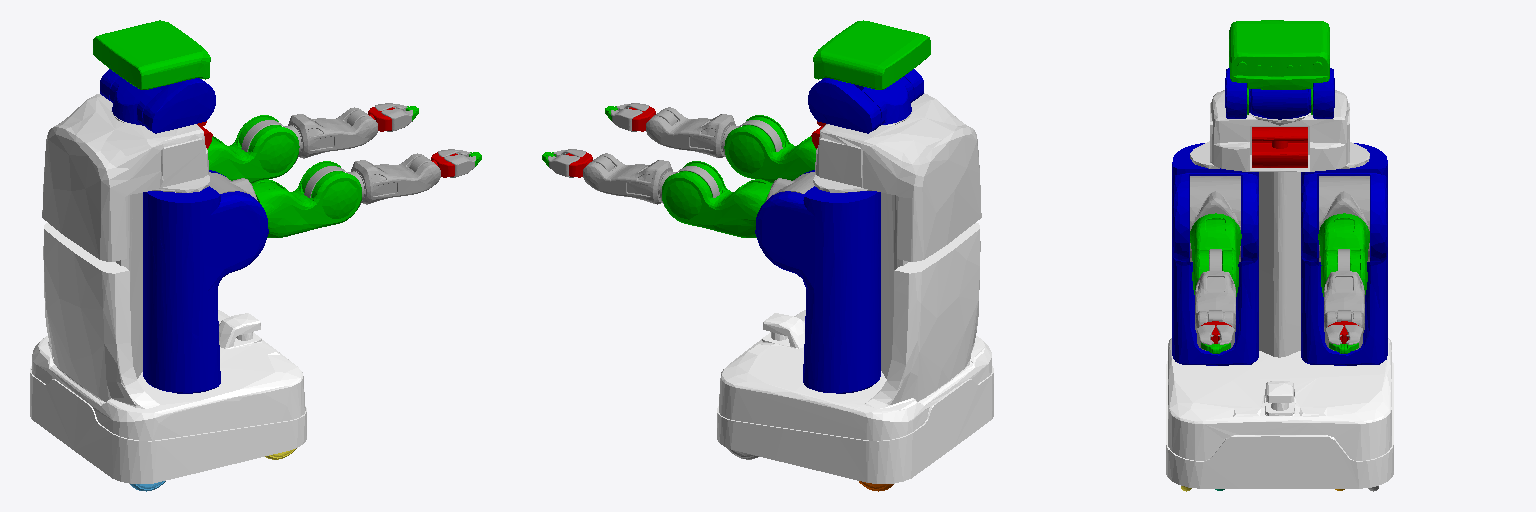
--- Facts derived from the render (not from the file) ---
The picture shows the robot from 3 angles, left to right: view 1: azimuth 30°, elevation 25°; view 2: azimuth 150°, elevation 25°; view 3: azimuth 270°, elevation 25°; orthographic projection.
Model pr2 with 83 links and 82 joints (20 revolute, 5 continuous, 3 prismatic, 54 fixed), rooted at world_link, posed every joint at zero.
Visible links, largest first — view 1: base_link, torso_lift_link, r_shoulder_pan_link, head_tilt_link, r_upper_arm_link, head_pan_link, l_upper_arm_link, l_forearm_link, r_forearm_link, r_shoulder_lift_link; view 2: base_link, torso_lift_link, l_shoulder_pan_link, head_tilt_link, l_upper_arm_link, head_pan_link, r_upper_arm_link, l_forearm_link, r_forearm_link, l_shoulder_lift_link; view 3: base_link, torso_lift_link, r_shoulder_pan_link, l_shoulder_pan_link, head_tilt_link, head_pan_link, l_upper_arm_link, r_upper_arm_link, laser_tilt_mount_link, r_shoulder_lift_link, l_shoulder_lift_link, r_forearm_link (+1 smaller).
Boxes of the visible links, box(x1,y1,x2,y2) form: base_link: box(30, 223, 306, 483); torso_lift_link: box(42, 94, 209, 378); r_shoulder_pan_link: box(143, 170, 268, 393); head_tilt_link: box(93, 20, 210, 89); r_upper_arm_link: box(251, 161, 361, 237); head_pan_link: box(100, 69, 215, 133); l_upper_arm_link: box(207, 115, 299, 182); l_forearm_link: box(288, 107, 377, 158); r_forearm_link: box(351, 153, 440, 204); r_shoulder_lift_link: box(208, 172, 257, 200); base_link: box(717, 223, 993, 483); torso_lift_link: box(813, 93, 981, 378); l_shoulder_pan_link: box(755, 170, 880, 393); head_tilt_link: box(813, 20, 930, 89); l_upper_arm_link: box(662, 161, 772, 237); head_pan_link: box(808, 69, 923, 133); r_upper_arm_link: box(724, 115, 816, 182); l_forearm_link: box(583, 153, 672, 204); r_forearm_link: box(646, 107, 735, 157); l_shoulder_lift_link: box(766, 172, 815, 200); base_link: box(1166, 338, 1393, 488); torso_lift_link: box(1190, 90, 1369, 357); r_shoulder_pan_link: box(1172, 143, 1258, 365); l_shoulder_pan_link: box(1301, 143, 1387, 365); head_tilt_link: box(1229, 20, 1329, 114); head_pan_link: box(1225, 68, 1334, 119); l_upper_arm_link: box(1318, 213, 1369, 296); r_upper_arm_link: box(1190, 213, 1241, 296); laser_tilt_mount_link: box(1252, 127, 1307, 167); r_shoulder_lift_link: box(1190, 176, 1240, 261); l_shoulder_lift_link: box(1319, 176, 1369, 261); r_forearm_link: box(1195, 271, 1235, 332).
Size in the robot's own frame: 1.31 by 0.6668 by 1.33 metres.
Meshes: 19 distinct files referenced, 45 mesh visuals loaded (19 OBJ).

URDF robot description (pr2):
<?xml version="1.0"?>
<!-- =================================================================================== -->
<!-- |    This document was autogenerated by xacro from /u/wim/cturtle_wg_all/stacks/pr2_common/pr2_description/robots/pr2.urdf.xacro | -->
<!-- |    EDITING THIS FILE BY HAND IS NOT RECOMMENDED                                 | -->
<!-- =================================================================================== -->
<!-- =================================================================================== -->
<!-- |    Note that this file has been edited by hand for Drake compatibility:         | -->
<!-- |    - .stl mesh extensions were replaced with .obj extensions.                   | -->
<!-- |    - The wheel joints intended for base movement have been changed from         | -->
<!-- |      continuous to fixed types. Joints for planar base movement have been added | -->
<!-- |      instead (x, y, theta).                                                     | -->
<!-- |    - For each gripper, the transmission that makes the fingers mimic            | -->
<!-- |      each other from the actions of a prismatic joint has been removed.         | -->
<!-- |      The finger joints are now fully actuated and are not controlled by a       | -->
<!-- |      single prismatic joint.                                                    | -->
<!-- |    Note also that the collision meshes are the same as the visualization meshes.| -->
<!-- |    For our current use case for the pr2 (gripping objects), it was decided that | -->
<!-- |    unnecessary collisions can be removed with the Drake C++ API instead of      | -->
<!-- |    keeping multiple URDFs or an XACRO with simplified collision geometry or     | -->
<!-- |    removed collision geometry.                                                  | -->
<!-- =================================================================================== -->
<robot xmlns="http://drake.mit.edu" xmlns:xsi="http://www.w3.org/2001/XMLSchema-instance" xmlns:sensor="http://playerstage.sourceforge.net/gazebo/xmlschema/#sensor" xmlns:joint="http://playerstage.sourceforge.net/gazebo/xmlschema/#slider" xmlns:body="http://playerstage.sourceforge.net/gazebo/xmlschema/#body" xmlns:geom="http://playerstage.sourceforge.net/gazebo/xmlschema/#geom" xmlns:controller="http://playerstage.sourceforge.net/gazebo/xmlschema/#controller" xmlns:xacro="http://ros.org/wiki/xacro" xmlns:interface="http://playerstage.sourceforge.net/gazebo/xmlschema/#interface" xsi:schemaLocation="http://drake.mit.edu ../../doc/drakeURDF.xsd" name="pr2">
  <!-- The following included files set up definitions of parts of the robot body -->
  <!-- misc common stuff? -->
  <!-- PR2 Arm -->
  <!-- PR2 gripper -->
  <!-- PR2 head -->
  <!-- PR2 tilting laser mount -->
  <!-- PR2 torso -->
  <!-- PR2 base -->
  <!-- Head sensors -->
  <!-- Camera sensors -->
  <!-- generic simulator_gazebo plugins for starting mechanism control, ros time, ros battery -->
  <gazebo>
    <controller:gazebo_ros_controller_manager name="gazebo_ros_controller_manager" plugin="libgazebo_ros_controller_manager.so">
      <alwaysOn>true</alwaysOn>
      <updateRate>1000.0</updateRate>
      <interface:audio name="gazebo_ros_controller_manager_dummy_iface"/>
    </controller:gazebo_ros_controller_manager>
    <controller:gazebo_ros_power_monitor name="gazebo_ros_power_monitor_controller" plugin="libgazebo_ros_power_monitor.so">
      <alwaysOn>true</alwaysOn>
      <updateRate>1.0</updateRate>
      <timeout>5</timeout>
      <interface:audio name="power_monitor_dummy_interface"/>
      <powerStateTopic>power_state</powerStateTopic>
      <powerStateRate>10.0</powerStateRate>
      <fullChargeCapacity>87.78</fullChargeCapacity>
      <dischargeRate>-474</dischargeRate>
      <chargeRate>525</chargeRate>
      <dischargeVoltage>15.52</dischargeVoltage>
      <chargeVoltage>16.41</chargeVoltage>
    </controller:gazebo_ros_power_monitor>
  </gazebo>
  <!-- materials for visualization -->
  <material name="Blue">
    <color rgba="0.0 0.0 0.8 1.0"/>
  </material>
  <material name="Green">
    <color rgba="0.0 0.8 0.0 1.0"/>
  </material>
  <material name="Grey">
    <color rgba="0.7 0.7 0.7 1.0"/>
  </material>
  <material name="Grey2">
    <color rgba="0.9 0.9 0.9 1.0"/>
  </material>
  <material name="Red">
    <color rgba="0.8 0.0 0.0 1.0"/>
  </material>
  <material name="White">
    <color rgba="1.0 1.0 1.0 1.0"/>
  </material>
  <material name="Caster">
    <texture filename="pr2_ogre/Media/materials/textures/pr2_caster_texture.png"/>
  </material>
  <material name="Wheel_l">
    <texture filename="pr2_ogre/Media/materials/textures/pr2_wheel_left.png"/>
  </material>
  <material name="Wheel_r">
    <texture filename="pr2_ogre/Media/materials/textures/pr2_wheel_right.png"/>
  </material>
  <material name="RollLinks">
    <texture filename="pr2_ogre/Media/materials/textures/pr2_wheel_left.png"/>
  </material>
  <!-- Now we can start using the macros included above to define the actual PR2 -->
  <!-- The first use of a macro.  This one was defined in base.urdf.xacro above.
       A macro like this will expand to a set of link and joint definitions, and to additional
       Gazebo-related extensions (sensor plugins, etc).  The macro takes an argument, name,
       that equals "base", and uses it to generate names for its component links and joints
       (e.g., base_link).  The included origin block is also an argument to the macro.  By convention,
       the origin block defines where the component is w.r.t its parent (in this case the parent
       is the world frame). For more, see http://www.ros.org/wiki/xacro -->
  <link name="world_link"/>
  <link name="base_link_0"/>
  <link name="base_link_1"/>
  <joint name="x" type="prismatic">
    <limit lower="-5" upper="5"/>
    <parent link="world_link"/>
    <child link="base_link_0"/>
    <axis xyz="1 0 0"/>
  </joint>
  <joint name="y" type="prismatic">
    <limit lower="-5" upper="5"/>
    <parent link="base_link_0"/>
    <child link="base_link_1"/>
    <axis xyz="0 1 0"/>
  </joint>
  <joint name="theta" type="continuous">
    <parent link="base_link_1"/>
    <child link="base_footprint"/>
    <axis xyz="0 0 1"/>
  </joint>
  <transmission name="x_transmission" type="SimpleTransmission">
    <actuator name="x_motor"/>
    <joint name="x"/>
    <mechanicalReduction>-70000.0</mechanicalReduction>
  </transmission>
  <transmission name="y_transmission" type="SimpleTransmission">
    <actuator name="y_motor"/>
    <joint name="y"/>
    <mechanicalReduction>-70000.0</mechanicalReduction>
  </transmission>
  <transmission name="theta_transmission" type="SimpleTransmission">
    <actuator name="theta_motor"/>
    <joint name="theta"/>
    <mechanicalReduction>-70000.0</mechanicalReduction>
  </transmission>
  <link name="base_link">
    <inertial>
      <mass value="116.0"/>
      <origin xyz="-0.061 0.0 0.293"/>
      <inertia ixx="5.652232699207" ixy="-0.009719934438" ixz="1.293988226423" iyy="5.669473158652" iyz="-0.007379583694" izz="3.683196351726"/>
    </inertial>
    <visual>
      <origin rpy="0 0 0" xyz="0 0 0"/>
      <geometry>
        <mesh filename="../meshes/base_v0/base.obj"/>
      </geometry>
      <material name="White"/>
    </visual>
    <collision group="non_gripper">
      <origin rpy="0 0 0" xyz="0 0 0"/>
      <geometry>
        <mesh filename="../meshes/base_v0/base_L.obj"/>
      </geometry>
    </collision>
  </link>
  <link name="base_footprint">
    <inertial>
      <mass value="1.0"/>
      <origin xyz="0 0 0"/>
      <inertia ixx="0.01" ixy="0.0" ixz="0.0" iyy="0.01" iyz="0.0" izz="0.01"/>
    </inertial>
    <visual>
      <origin rpy="0 0 0" xyz="0 0 0"/>
      <geometry>
        <box size="0.01 0.01 0.01"/>
      </geometry>
      <material name="White"/>
    </visual>
    <collision group="non_gripper">
      <!-- represent base collision with a simple rectangular model, positioned by base_size_z s.t. top
             surface of the collision box matches the top surface of the PR2 base -->
      <origin rpy="0 0 0" xyz="0 0 0.071"/>
      <geometry>
        <box size="0.001 0.001 0.001"/>
      </geometry>
    </collision>
  </link>
  <joint name="base_footprint_joint" type="fixed">
    <origin rpy="0 0 0" xyz="0 0 0.051"/>
    <child link="base_link"/>
    <parent link="base_footprint"/>
  </joint>
  <joint name="base_laser_joint" type="fixed">
    <axis xyz="0 1 0"/>
    <origin rpy="0 0 0" xyz="0.275 0.0 0.252"/>
    <parent link="base_link"/>
    <child link="base_laser_link"/>
  </joint>
  <link name="base_laser_link" type="laser">
    <inertial>
      <mass value="0.001"/>
      <origin rpy="0 0 0" xyz="0 0 0"/>
      <inertia ixx="0.0001" ixy="0" ixz="0" iyy="0.000001" iyz="0" izz="0.0001"/>
    </inertial>
    <visual>
      <origin rpy="0 0 0" xyz="0 0 0"/>
      <geometry>
        <box size="0.001 0.001 0.001"/>
      </geometry>
      <material name="Red"/>
    </visual>
    <collision group="non_gripper">
      <origin rpy="0 0 0" xyz="0 0 0"/>
      <geometry>
        <box size=".001 .001 .001"/>
      </geometry>
    </collision>
  </link>
  <gazebo reference="base_laser_link">
    <sensor:ray name="base_laser">
      <rayCount>640</rayCount>
      <rangeCount>640</rangeCount>
      <laserCount>1</laserCount>
      <origin>0.0 0.0 0.0</origin>
      <displayRays>false</displayRays>
      <minAngle>-129.998394137</minAngle>
      <maxAngle>129.998394137</maxAngle>
      <minRange>0.05</minRange>
      <maxRange>10.0</maxRange>
      <resRange>0.01</resRange>
      <updateRate>20</updateRate>
      <controller:gazebo_ros_laser name="gazebo_ros_base_laser_controller" plugin="libgazebo_ros_laser.so">
        <gaussianNoise>0.005</gaussianNoise>
        <alwaysOn>true</alwaysOn>
        <updateRate>20</updateRate>
        <topicName>base_scan</topicName>
        <frameName>base_laser_link</frameName>
        <interface:laser name="gazebo_ros_base_laser_iface"/>
      </controller:gazebo_ros_laser>
    </sensor:ray>
  </gazebo>
  <joint name="fl_caster_rotation_joint" type="fixed">
    <axis xyz="0 0 1"/>
    <limit effort="100" velocity="100"/>
    <!-- alpha tested velocity and effort limits -->
    <safety_controller k_velocity="10"/>
    <calibration reference_position="-0.785398163397" rising="-0.785398163397"/>
    <!-- hold both reference_position and upper/lower for tick-tock, remove reference_positiion after verifying upper/lower works with calibration controllers.  if search velocity in pr2_calibration_controllers.yaml is +, the reference_position is rising, if - then it is falling -->
    <dynamics damping="0.0" friction="0.0"/>
    <origin rpy="0 0 0" xyz="0.2246 0.2246 0.0282"/>
    <parent link="base_link"/>
    <child link="fl_caster_rotation_link"/>
  </joint>
  <link name="fl_caster_rotation_link">
    <inertial>
      <mass value="3.473082"/>
      <origin xyz="0 0 0.07"/>
      <inertia ixx="0.012411765597" ixy="-0.000711733678" ixz="0.00050272983" iyy="0.015218160428" iyz="-0.000004273467" izz="0.011763977943"/>
    </inertial>
    <visual>
      <origin rpy="0 0 0" xyz="0 0 0"/>
      <geometry>
        <mesh filename="../meshes/base_v0/caster.obj"/>
      </geometry>
      <material name="Caster"/>
    </visual>
    <collision group="non_gripper">
      <origin rpy="0 0 0" xyz="0 0 0"/>
      <geometry>
        <mesh filename="../meshes/base_v0/caster_L.obj"/>
      </geometry>
    </collision>
  </link>
  <transmission name="fl_caster_rotation_trans" type="SimpleTransmission">
    <actuator name="fl_caster_rotation_motor"/>
    <joint name="fl_caster_rotation_joint"/>
    <mechanicalReduction>-79.2380952381</mechanicalReduction>
  </transmission>
  <joint name="fl_caster_l_wheel_joint" type="fixed">
    <axis xyz="0 1 0"/>
    <limit effort="100" velocity="100"/>
    <!-- alpha tested effort and velocity limits -->
    <safety_controller k_velocity="10"/>
    <dynamics damping="0.0" friction="0.0"/>
    <origin rpy="0 0 0" xyz="0 0.049 0"/>
    <parent link="fl_caster_rotation_link"/>
    <child link="fl_caster_l_wheel_link"/>
  </joint>
  <link name="fl_caster_l_wheel_link">
    <inertial>
      <mass value="0.44036"/>
      <origin xyz="0 0 0"/>
      <inertia ixx="0.012411765597" ixy="-0.000711733678" ixz="0.00050272983" iyy="0.015218160428" iyz="-0.000004273467" izz="0.011763977943"/>
    </inertial>
    <visual>
      <origin rpy="0 0 0" xyz="0 0 0"/>
      <geometry>
        <mesh filename="../meshes/base_v0/wheel.obj"/>
      </geometry>
      <material name="Wheel_l"/>
    </visual>
    <collision group="non_gripper">
      <origin rpy="1.57079632679 0 0" xyz="0 0 0"/>
      <!-- rotation because cyl. geom primitive has symmetry axis in +x direction -->
      <geometry>
        <cylinder length="0.034" radius="0.074792"/>
      </geometry>
    </collision>
  </link>
  <gazebo reference="fl_caster_l_wheel_link">
    <mu1 value="100.0"/>
    <mu2 value="100.0"/>
    <kp value="1000000.0"/>
    <kd value="1.0"/>
    <material value="PR2/wheel_l"/>
  </gazebo>
  <transmission name="fl_caster_l_wheel_trans" type="SimpleTransmission">
    <actuator name="fl_caster_l_wheel_motor"/>
    <joint name="fl_caster_l_wheel_joint"/>
    <mechanicalReduction>79.2380952381</mechanicalReduction>
  </transmission>
  <joint name="fl_caster_r_wheel_joint" type="fixed">
    <axis xyz="0 1 0"/>
    <limit effort="100" velocity="100"/>
    <!-- alpha tested effort and velocity limits -->
    <safety_controller k_velocity="10"/>
    <dynamics damping="0.0" friction="0.0"/>
    <origin rpy="0 0 0" xyz="0 -0.049 0"/>
    <parent link="fl_caster_rotation_link"/>
    <child link="fl_caster_r_wheel_link"/>
  </joint>
  <link name="fl_caster_r_wheel_link">
    <inertial>
      <mass value="0.44036"/>
      <origin xyz="0 0 0"/>
      <inertia ixx="0.012411765597" ixy="-0.000711733678" ixz="0.00050272983" iyy="0.015218160428" iyz="-0.000004273467" izz="0.011763977943"/>
    </inertial>
    <visual>
      <origin rpy="0 0 0" xyz="0 0 0"/>
      <geometry>
        <mesh filename="../meshes/base_v0/wheel.obj"/>
      </geometry>
      <material name="Wheel_r"/>
    </visual>
    <collision group="non_gripper">
      <origin rpy="1.57079632679 0 0" xyz="0 0 0"/>
      <!-- rotation because cyl. geom primitive has symmetry axis in +x direction -->
      <geometry>
        <cylinder length="0.034" radius="0.074792"/>
      </geometry>
    </collision>
  </link>
  <gazebo reference="fl_caster_r_wheel_link">
    <mu1 value="100.0"/>
    <mu2 value="100.0"/>
    <kp value="1000000.0"/>
    <kd value="1.0"/>
    <material value="PR2/wheel_r"/>
  </gazebo>
  <transmission name="fl_caster_r_wheel_trans" type="SimpleTransmission">
    <actuator name="fl_caster_r_wheel_motor"/>
    <joint name="fl_caster_r_wheel_joint"/>
    <mechanicalReduction>-79.2380952381</mechanicalReduction>
  </transmission>
  <gazebo reference="fl_caster_rotation_link">
    <material value="PR2/caster_texture"/>
  </gazebo>
  <joint name="fr_caster_rotation_joint" type="fixed">
    <axis xyz="0 0 1"/>
    <limit effort="100" velocity="100"/>
    <!-- alpha tested velocity and effort limits -->
    <safety_controller k_velocity="10"/>
    <calibration reference_position="-0.785398163397" rising="-0.785398163397"/>
    <!-- hold both reference_position and upper/lower for tick-tock, remove reference_positiion after verifying upper/lower works with calibration controllers.  if search velocity in pr2_calibration_controllers.yaml is +, the reference_position is rising, if - then it is falling -->
    <dynamics damping="0.0" friction="0.0"/>
    <origin rpy="0 0 0" xyz="0.2246 -0.2246 0.0282"/>
    <parent link="base_link"/>
    <child link="fr_caster_rotation_link"/>
  </joint>
  <link name="fr_caster_rotation_link">
    <inertial>
      <mass value="3.473082"/>
      <origin xyz="0 0 0.07"/>
      <inertia ixx="0.012411765597" ixy="-0.000711733678" ixz="0.00050272983" iyy="0.015218160428" iyz="-0.000004273467" izz="0.011763977943"/>
    </inertial>
    <visual>
      <origin rpy="0 0 0" xyz="0 0 0"/>
      <geometry>
        <mesh filename="../meshes/base_v0/caster.obj"/>
      </geometry>
      <material name="Caster"/>
    </visual>
    <collision group="non_gripper">
      <origin rpy="0 0 0" xyz="0 0 0"/>
      <geometry>
        <mesh filename="../meshes/base_v0/caster_L.obj"/>
      </geometry>
    </collision>
  </link>
  <transmission name="fr_caster_rotation_trans" type="SimpleTransmission">
    <actuator name="fr_caster_rotation_motor"/>
    <joint name="fr_caster_rotation_joint"/>
    <mechanicalReduction>-79.2380952381</mechanicalReduction>
  </transmission>
  <joint name="fr_caster_l_wheel_joint" type="fixed">
    <axis xyz="0 1 0"/>
    <limit effort="100" velocity="100"/>
    <!-- alpha tested effort and velocity limits -->
    <safety_controller k_velocity="10"/>
    <dynamics damping="0.0" friction="0.0"/>
    <origin rpy="0 0 0" xyz="0 0.049 0"/>
    <parent link="fr_caster_rotation_link"/>
    <child link="fr_caster_l_wheel_link"/>
  </joint>
  <link name="fr_caster_l_wheel_link">
    <inertial>
      <mass value="0.44036"/>
      <origin xyz="0 0 0"/>
      <inertia ixx="0.012411765597" ixy="-0.000711733678" ixz="0.00050272983" iyy="0.015218160428" iyz="-0.000004273467" izz="0.011763977943"/>
    </inertial>
    <visual>
      <origin rpy="0 0 0" xyz="0 0 0"/>
      <geometry>
        <mesh filename="../meshes/base_v0/wheel.obj"/>
      </geometry>
      <material name="Wheel_l"/>
    </visual>
    <collision group="non_gripper">
      <origin rpy="1.57079632679 0 0" xyz="0 0 0"/>
      <!-- rotation because cyl. geom primitive has symmetry axis in +x direction -->
      <geometry>
        <cylinder length="0.034" radius="0.074792"/>
      </geometry>
    </collision>
  </link>
  <gazebo reference="fr_caster_l_wheel_link">
    <mu1 value="100.0"/>
    <mu2 value="100.0"/>
    <kp value="1000000.0"/>
    <kd value="1.0"/>
    <material value="PR2/wheel_l"/>
  </gazebo>
  <transmission name="fr_caster_l_wheel_trans" type="SimpleTransmission">
    <actuator name="fr_caster_l_wheel_motor"/>
    <joint name="fr_caster_l_wheel_joint"/>
    <mechanicalReduction>79.2380952381</mechanicalReduction>
  </transmission>
  <joint name="fr_caster_r_wheel_joint" type="fixed">
    <axis xyz="0 1 0"/>
    <limit effort="100" velocity="100"/>
    <!-- alpha tested effort and velocity limits -->
    <safety_controller k_velocity="10"/>
    <dynamics damping="0.0" friction="0.0"/>
    <origin rpy="0 0 0" xyz="0 -0.049 0"/>
    <parent link="fr_caster_rotation_link"/>
    <child link="fr_caster_r_wheel_link"/>
  </joint>
  <link name="fr_caster_r_wheel_link">
    <inertial>
      <mass value="0.44036"/>
      <origin xyz="0 0 0"/>
      <inertia ixx="0.012411765597" ixy="-0.000711733678" ixz="0.00050272983" iyy="0.015218160428" iyz="-0.000004273467" izz="0.011763977943"/>
    </inertial>
    <visual>
      <origin rpy="0 0 0" xyz="0 0 0"/>
      <geometry>
        <mesh filename="../meshes/base_v0/wheel.obj"/>
      </geometry>
      <material name="Wheel_r"/>
    </visual>
    <collision group="non_gripper">
      <origin rpy="1.57079632679 0 0" xyz="0 0 0"/>
      <!-- rotation because cyl. geom primitive has symmetry axis in +x direction -->
      <geometry>
        <cylinder length="0.034" radius="0.074792"/>
      </geometry>
    </collision>
  </link>
  <gazebo reference="fr_caster_r_wheel_link">
    <mu1 value="100.0"/>
    <mu2 value="100.0"/>
    <kp value="1000000.0"/>
    <kd value="1.0"/>
    <material value="PR2/wheel_r"/>
  </gazebo>
  <transmission name="fr_caster_r_wheel_trans" type="SimpleTransmission">
    <actuator name="fr_caster_r_wheel_motor"/>
    <joint name="fr_caster_r_wheel_joint"/>
    <mechanicalReduction>-79.2380952381</mechanicalReduction>
  </transmission>
  <gazebo reference="fr_caster_rotation_link">
    <material value="PR2/caster_texture"/>
  </gazebo>
  <joint name="bl_caster_rotation_joint" type="fixed">
    <axis xyz="0 0 1"/>
    <limit effort="100" velocity="100"/>
    <!-- alpha tested velocity and effort limits -->
    <safety_controller k_velocity="10"/>
    <calibration reference_position="2.35619449019" rising="2.35619449019"/>
    <!-- hold both reference_position and upper/lower for tick-tock, remove reference_positiion after verifying upper/lower works with calibration controllers.  if search velocity in pr2_calibration_controllers.yaml is +, the reference_position is rising, if - then it is falling -->
    <dynamics damping="0.0" friction="0.0"/>
    <origin rpy="0 0 0" xyz="-0.2246 0.2246 0.0282"/>
    <parent link="base_link"/>
    <child link="bl_caster_rotation_link"/>
  </joint>
  <link name="bl_caster_rotation_link">
    <inertial>
      <mass value="3.473082"/>
      <origin xyz="0 0 0.07"/>
      <inertia ixx="0.012411765597" ixy="-0.000711733678" ixz="0.00050272983" iyy="0.015218160428" iyz="-0.000004273467" izz="0.011763977943"/>
    </inertial>
    <visual>
      <origin rpy="0 0 0" xyz="0 0 0"/>
      <geometry>
        <mesh filename="../meshes/base_v0/caster.obj"/>
      </geometry>
      <material name="Caster"/>
    </visual>
    <collision group="non_gripper">
      <origin rpy="0 0 0" xyz="0 0 0"/>
      <geometry>
        <mesh filename="../meshes/base_v0/caster_L.obj"/>
      </geometry>
    </collision>
  </link>
  <transmission name="bl_caster_rotation_trans" type="SimpleTransmission">
    <actuator name="bl_caster_rotation_motor"/>
    <joint name="bl_caster_rotation_joint"/>
    <mechanicalReduction>-79.2380952381</mechanicalReduction>
  </transmission>
  <joint name="bl_caster_l_wheel_joint" type="fixed">
    <axis xyz="0 1 0"/>
    <limit effort="100" velocity="100"/>
    <!-- alpha tested effort and velocity limits -->
    <safety_controller k_velocity="10"/>
    <dynamics damping="0.0" friction="0.0"/>
    <origin rpy="0 0 0" xyz="0 0.049 0"/>
    <parent link="bl_caster_rotation_link"/>
    <child link="bl_caster_l_wheel_link"/>
  </joint>
  <link name="bl_caster_l_wheel_link">
    <inertial>
      <mass value="0.44036"/>
      <origin xyz="0 0 0"/>
      <inertia ixx="0.012411765597" ixy="-0.000711733678" ixz="0.00050272983" iyy="0.015218160428" iyz="-0.000004273467" izz="0.011763977943"/>
    </inertial>
    <visual>
      <origin rpy="0 0 0" xyz="0 0 0"/>
      <geometry>
        <mesh filename="../meshes/base_v0/wheel.obj"/>
      </geometry>
      <material name="Wheel_l"/>
    </visual>
    <collision group="non_gripper">
      <origin rpy="1.57079632679 0 0" xyz="0 0 0"/>
      <!-- rotation because cyl. geom primitive has symmetry axis in +x direction -->
      <geometry>
        <cylinder length="0.034" radius="0.074792"/>
      </geometry>
    </collision>
  </link>
  <gazebo reference="bl_caster_l_wheel_link">
    <mu1 value="100.0"/>
    <mu2 value="100.0"/>
    <kp value="1000000.0"/>
    <kd value="1.0"/>
    <material value="PR2/wheel_l"/>
  </gazebo>
  <transmission name="bl_caster_l_wheel_trans" type="SimpleTransmission">
    <actuator name="bl_caster_l_wheel_motor"/>
    <joint name="bl_caster_l_wheel_joint"/>
    <mechanicalReduction>79.2380952381</mechanicalReduction>
  </transmission>
  <joint name="bl_caster_r_wheel_joint" type="fixed">
    <axis xyz="0 1 0"/>
    <limit effort="100" velocity="100"/>
    <!-- alpha tested effort and velocity limits -->
    <safety_controller k_velocity="10"/>
    <dynamics damping="0.0" friction="0.0"/>
    <origin rpy="0 0 0" xyz="0 -0.049 0"/>
    <parent link="bl_caster_rotation_link"/>
    <child link="bl_caster_r_wheel_link"/>
  </joint>
  <link name="bl_caster_r_wheel_link">
    <inertial>
      <mass value="0.44036"/>
      <origin xyz="0 0 0"/>
      <inertia ixx="0.012411765597" ixy="-0.000711733678" ixz="0.00050272983" iyy="0.015218160428" iyz="-0.000004273467" izz="0.011763977943"/>
    </inertial>
    <visual>
      <origin rpy="0 0 0" xyz="0 0 0"/>
      <geometry>
        <mesh filename="../meshes/base_v0/wheel.obj"/>
      </geometry>
      <material name="Wheel_r"/>
    </visual>
    <collision group="non_gripper">
      <origin rpy="1.57079632679 0 0" xyz="0 0 0"/>
      <!-- rotation because cyl. geom primitive has symmetry axis in +x direction -->
      <geometry>
        <cylinder length="0.034" radius="0.074792"/>
      </geometry>
    </collision>
  </link>
  <gazebo reference="bl_caster_r_wheel_link">
    <mu1 value="100.0"/>
    <mu2 value="100.0"/>
    <kp value="1000000.0"/>
    <kd value="1.0"/>
    <material value="PR2/wheel_r"/>
  </gazebo>
  <transmission name="bl_caster_r_wheel_trans" type="SimpleTransmission">
    <actuator name="bl_caster_r_wheel_motor"/>
    <joint name="bl_caster_r_wheel_joint"/>
    <mechanicalReduction>-79.2380952381</mechanicalReduction>
  </transmission>
  <gazebo reference="bl_caster_rotation_link">
    <material value="PR2/caster_texture"/>
  </gazebo>
  <joint name="br_caster_rotation_joint" type="fixed">
    <axis xyz="0 0 1"/>
    <limit effort="100" velocity="100"/>
    <!-- alpha tested velocity and effort limits -->
    <safety_controller k_velocity="10"/>
    <calibration reference_position="2.35619449019" rising="2.35619449019"/>
    <!-- hold both reference_position and upper/lower for tick-tock, remove reference_positiion after verifying upper/lower works with calibration controllers.  if search velocity in pr2_calibration_controllers.yaml is +, the reference_position is rising, if - then it is falling -->
    <dynamics damping="0.0" friction="0.0"/>
    <origin rpy="0 0 0" xyz="-0.2246 -0.2246 0.0282"/>
    <parent link="base_link"/>
    <child link="br_caster_rotation_link"/>
  </joint>
  <link name="br_caster_rotation_link">
    <inertial>
      <mass value="3.473082"/>
      <origin xyz="0 0 0.07"/>
      <inertia ixx="0.012411765597" ixy="-0.000711733678" ixz="0.00050272983" iyy="0.015218160428" iyz="-0.000004273467" izz="0.011763977943"/>
    </inertial>
    <visual>
      <origin rpy="0 0 0" xyz="0 0 0"/>
      <geometry>
        <mesh filename="../meshes/base_v0/caster.obj"/>
      </geometry>
      <material name="Caster"/>
    </visual>
    <collision group="non_gripper">
      <origin rpy="0 0 0" xyz="0 0 0"/>
      <geometry>
        <mesh filename="../meshes/base_v0/caster_L.obj"/>
      </geometry>
    </collision>
  </link>
  <transmission name="br_caster_rotation_trans" type="SimpleTransmission">
    <actuator name="br_caster_rotation_motor"/>
    <joint name="br_caster_rotation_joint"/>
    <mechanicalReduction>-79.2380952381</mechanicalReduction>
  </transmission>
  <joint name="br_caster_l_wheel_joint" type="fixed">
    <axis xyz="0 1 0"/>
    <limit effort="100" velocity="100"/>
    <!-- alpha tested effort and velocity limits -->
    <safety_controller k_velocity="10"/>
    <dynamics damping="0.0" friction="0.0"/>
    <origin rpy="0 0 0" xyz="0 0.049 0"/>
    <parent link="br_caster_rotation_link"/>
    <child link="br_caster_l_wheel_link"/>
  </joint>
  <link name="br_caster_l_wheel_link">
    <inertial>
      <mass value="0.44036"/>
      <origin xyz="0 0 0"/>
      <inertia ixx="0.012411765597" ixy="-0.000711733678" ixz="0.00050272983" iyy="0.015218160428" iyz="-0.000004273467" izz="0.011763977943"/>
    </inertial>
    <visual>
      <origin rpy="0 0 0" xyz="0 0 0"/>
      <geometry>
        <mesh filename="../meshes/base_v0/wheel.obj"/>
      </geometry>
      <material name="Wheel_l"/>
    </visual>
    <collision group="non_gripper">
      <origin rpy="1.57079632679 0 0" xyz="0 0 0"/>
      <!-- rotation because cyl. geom primitive has symmetry axis in +x direction -->
      <geometry>
        <cylinder length="0.034" radius="0.074792"/>
      </geometry>
    </collision>
  </link>
  <gazebo reference="br_caster_l_wheel_link">
    <mu1 value="100.0"/>
    <mu2 value="100.0"/>
    <kp value="1000000.0"/>
    <kd value="1.0"/>
    <material value="PR2/wheel_l"/>
  </gazebo>
  <transmission name="br_caster_l_wheel_trans" type="SimpleTransmission">
    <actuator name="br_caster_l_wheel_motor"/>
    <joint name="br_caster_l_wheel_joint"/>
    <mechanicalReduction>79.2380952381</mechanicalReduction>
  </transmission>
  <joint name="br_caster_r_wheel_joint" type="fixed">
    <axis xyz="0 1 0"/>
    <limit effort="100" velocity="100"/>
    <!-- alpha tested effort and velocity limits -->
    <safety_controller k_velocity="10"/>
    <dynamics damping="0.0" friction="0.0"/>
    <origin rpy="0 0 0" xyz="0 -0.049 0"/>
    <parent link="br_caster_rotation_link"/>
    <child link="br_caster_r_wheel_link"/>
  </joint>
  <link name="br_caster_r_wheel_link">
    <inertial>
      <mass value="0.44036"/>
      <origin xyz="0 0 0"/>
      <inertia ixx="0.012411765597" ixy="-0.000711733678" ixz="0.00050272983" iyy="0.015218160428" iyz="-0.000004273467" izz="0.011763977943"/>
    </inertial>
    <visual>
      <origin rpy="0 0 0" xyz="0 0 0"/>
      <geometry>
        <mesh filename="../meshes/base_v0/wheel.obj"/>
      </geometry>
      <material name="Wheel_r"/>
    </visual>
    <collision group="non_gripper">
      <origin rpy="1.57079632679 0 0" xyz="0 0 0"/>
      <!-- rotation because cyl. geom primitive has symmetry axis in +x direction -->
      <geometry>
        <cylinder length="0.034" radius="0.074792"/>
      </geometry>
    </collision>
  </link>
  <gazebo reference="br_caster_r_wheel_link">
    <mu1 value="100.0"/>
    <mu2 value="100.0"/>
    <kp value="1000000.0"/>
    <kd value="1.0"/>
    <material value="PR2/wheel_r"/>
  </gazebo>
  <transmission name="br_caster_r_wheel_trans" type="SimpleTransmission">
    <actuator name="br_caster_r_wheel_motor"/>
    <joint name="br_caster_r_wheel_joint"/>
    <mechanicalReduction>-79.2380952381</mechanicalReduction>
  </transmission>
  <gazebo reference="br_caster_rotation_link">
    <material value="PR2/caster_texture"/>
  </gazebo>
  <gazebo reference="base_link">
    <selfCollide>true</selfCollide>
    <sensor:contact name="base_contact_sensor">
      <geom>base_link_geom</geom>
      <updateRate>100.0</updateRate>
      <controller:gazebo_ros_bumper name="base_gazebo_ros_bumper_controller" plugin="libgazebo_ros_bumper.so">
        <alwaysOn>true</alwaysOn>
        <updateRate>100.0</updateRate>
        <bumperTopicName>base_bumper</bumperTopicName>
        <interface:bumper name="base_bumper_iface"/>
      </controller:gazebo_ros_bumper>
    </sensor:contact>
    <material value="PR2/caster_texture"/>
  </gazebo>
  <gazebo>
    <controller:gazebo_ros_p3d name="p3d_base_controller" plugin="libgazebo_ros_p3d.so">
      <alwaysOn>true</alwaysOn>
      <updateRate>100.0</updateRate>
      <bodyName>base_link</bodyName>
      <topicName>base_pose_ground_truth</topicName>
      <gaussianNoise>0.01</gaussianNoise>
      <frameName>map</frameName>
      <xyzOffsets>25.7 25.7 0</xyzOffsets>
      <!-- initialize odometry for fake localization-->
      <rpyOffsets>0 0 0</rpyOffsets>
      <interface:position name="p3d_base_position"/>
    </controller:gazebo_ros_p3d>
    <canonicalBody>base_footprint</canonicalBody>
  </gazebo>
  <joint name="torso_lift_joint" type="prismatic">
    <axis xyz="0 0 1"/>
    <limit effort="10000" lower="0.0" upper="0.31" velocity="0.013"/>
    <!-- alpha tested velocity and effort limits -->
    <safety_controller k_position="100" k_velocity="2000000" soft_lower_limit="0.0115" soft_upper_limit="0.305"/>
    <!-- hold both reference_position and upper/lower for tick-tock, remove reference_positiion after verifying upper/lower works with calibration controllers.  if search velocity in pr2_calibration_controllers.yaml is +, the reference_position is rising, if - then it is falling -->
    <calibration falling="0.00536" reference_position="0.00536"/>
    <dynamics damping="20000.0"/>
    <!-- strictly tuned for sim only right now -->
    <origin rpy="0 0 0" xyz="-0.05 0 0.739675"/>
    <parent link="base_link"/>
    <child link="torso_lift_link"/>
  </joint>
  <link name="torso_lift_link">
    <inertial>
      <mass value="36.248046"/>
      <origin xyz="-0.1 0 -0.0885"/>
      <inertia ixx="2.771653750257" ixy="0.004284522609" ixz="-0.160418504506" iyy="2.510019507959" iyz="0.029664468704" izz="0.526432355569"/>
    </inertial>
    <visual>
      <origin rpy="0 0 0" xyz="0 0 0"/>
      <geometry>
        <mesh filename="../meshes/torso_v0/torso_lift.obj"/>
      </geometry>
      <material name="Grey2"/>
    </visual>
    <collision group="non_gripper" name="torso_lift_collision">
      <origin rpy="0 0 0" xyz="0 0 0"/>
      <geometry>
        <mesh filename="../meshes/torso_v0/torso_lift_L.obj"/>
      </geometry>
    </collision>
  </link>
  <gazebo reference="torso_lift_link">
    <sensor:contact name="torso_lift_contact_sensor">
      <geom>torso_lift_link_geom</geom>
      <updateRate>100.0</updateRate>
      <controller:gazebo_ros_bumper name="torso_lift_gazebo_ros_bumper_controller" plugin="libgazebo_ros_bumper.so">
        <alwaysOn>true</alwaysOn>
        <updateRate>100.0</updateRate>
        <bumperTopicName>torso_lift_bumper</bumperTopicName>
        <interface:bumper name="torso_lift_gazebo_ros_bumper_iface"/>
      </controller:gazebo_ros_bumper>
    </sensor:contact>
    <material value="PR2/Grey2"/>
  </gazebo>
  <transmission name="torso_lift_trans" type="SimpleTransmission">
    <actuator name="torso_lift_motor"/>
    <joint name="torso_lift_joint"/>
    <mechanicalReduction> -52143.33 </mechanicalReduction>
  </transmission>
  <joint name="imu_joint" type="fixed">
    <axis xyz="0 1 0"/>
    <origin rpy="0 3.14159265359 0" xyz="-0.02977 -0.1497 0.164"/>
    <parent link="torso_lift_link"/>
    <child link="imu_link"/>
  </joint>
  <link name="imu_link">
    <inertial>
      <mass value="0.001"/>
      <origin rpy="0 0 0" xyz="0 0 0"/>
      <inertia ixx="0.0001" ixy="0" ixz="0" iyy="0.000001" iyz="0" izz="0.0001"/>
    </inertial>
    <visual>
      <origin rpy="0 0 0" xyz="0 0 0"/>
      <geometry>
        <box size="0.001 0.001 0.001"/>
      </geometry>
      <material name="Red"/>
    </visual>
    <collision group="non_gripper">
      <origin rpy="0 0 0" xyz="0 0 0"/>
      <geometry>
        <box size=".001 .001 .001"/>
      </geometry>
    </collision>
  </link>
  <gazebo>
    <controller:gazebo_ros_imu name="imu_controller" plugin="libgazebo_ros_imu.so">
      <alwaysOn>true</alwaysOn>
      <updateRate>100.0</updateRate>
      <bodyName>imu_link</bodyName>
      <topicName>torso_lift_imu/data</topicName>
      <gaussianNoise>2.89e-08</gaussianNoise>
      <xyzOffsets>0 0 0</xyzOffsets>
      <rpyOffsets>0 0 0</rpyOffsets>
      <interface:position name="imu_position"/>
    </controller:gazebo_ros_imu>
  </gazebo>
  <!-- The xacro preprocesser will replace the parameters below, such as ${cal_head_x}, with
       numerical values that were specified in common.xacro which was included above -->
  <joint name="head_pan_joint" type="revolute">
    <axis xyz="0 0 1"/>
    <limit effort="2.645" lower="-3.007" upper="3.007" velocity="6"/>
    <!-- alpha tested velocity and effort limits -->
    <safety_controller k_position="100" k_velocity="1.5" soft_lower_limit="-2.857" soft_upper_limit="2.857"/>
    <!-- hold both reference_position and upper/lower for tick-tock, remove reference_positiion after verifying upper/lower works with calibration controllers.  if search velocity in pr2_calibration_controllers.yaml is +, the reference_position is rising, if - then it is falling -->
    <calibration reference_position="0.0" rising="0.0"/>
    <dynamics damping="1.0"/>
    <origin rpy="0.0 0.0 0.0" xyz="-0.01707 0.0 0.38145"/>
    <parent link="torso_lift_link"/>
    <child link="head_pan_link"/>
  </joint>
  <link name="head_pan_link">
    <inertial>
      <mass value="1.611118"/>
      <origin rpy="0 0 0" xyz="-0.005717  0.010312 -0.029649"/>
      <inertia ixx="0.00482611007" ixy="-0.000144683999" ixz="0.000110076136" iyy="0.005218991412" iyz="-0.000314239509" izz="0.008618784925"/>
    </inertial>
    <visual>
      <origin rpy="0 0 0 " xyz="0 0 0.0"/>
      <geometry>
        <mesh filename="../meshes/head_v0/head_pan.obj"/>
      </geometry>
      <material name="Blue"/>
    </visual>
    <collision group="non_gripper">
      <origin rpy="0 0 0 " xyz="0 0 0.0"/>
      <geometry>
        <mesh filename="../meshes/head_v0/head_pan_L.obj"/>
      </geometry>
    </collision>
  </link>
  <gazebo reference="head_pan_link">
    <material value="Gazebo/Black"/>
  </gazebo>
  <transmission name="head_pan_trans" type="SimpleTransmission">
    <actuator name="head_pan_motor"/>
    <joint name="head_pan_joint"/>
    <mechanicalReduction>6.0</mechanicalReduction>
  </transmission>
  <joint name="head_tilt_joint" type="revolute">
    <axis xyz="0 1 0"/>
    <limit effort="15" lower="-0.471238" upper="1.39626" velocity="5"/>
    <!-- alpha tested velocity and effort limits -->
    <safety_controller k_position="100" k_velocity="1.5" soft_lower_limit="-0.3712" soft_upper_limit="1.29626"/>
    <!-- hold both reference_position and upper/lower for tick-tock, remove reference_positiion after verifying upper/lower works with calibration controllers.  if search velocity in pr2_calibration_controllers.yaml is +, the reference_position is rising, if - then it is falling -->
    <calibration falling="0.0" reference_position="0.0"/>
    <dynamics damping="1.0"/>
    <origin rpy="0 0 0" xyz="0.068 0 0"/>
    <parent link="head_pan_link"/>
    <child link="head_tilt_link"/>
  </joint>
  <link name="head_tilt_link">
    <inertial>
      <mass value="1.749727"/>
      <origin rpy="0 0 0" xyz="0.041935 0.003569 0.028143"/>
      <inertia ixx="0.010602303435" ixy="-0.000408814235" ixz="0.00198303894" iyy="0.011874383747" iyz="0.000197908779" izz="0.005516790626"/>
    </inertial>
    <visual>
      <origin rpy="0.0 0.0 0.0" xyz="0 0 0"/>
      <geometry>
        <mesh filename="../meshes/head_v0/head_tilt.obj"/>
      </geometry>
      <material name="Green"/>
    </visual>
    <collision group="non_gripper">
      <origin rpy="0.0 0.0 0.0" xyz="0 0 0"/>
      <geometry>
        <mesh filename="../meshes/head_v0/head_tilt_L.obj"/>
      </geometry>
    </collision>
  </link>
  <gazebo reference="head_tilt_link">
    <material value="Gazebo/White"/>
  </gazebo>
  <transmission name="head_tilt_trans" type="SimpleTransmission">
    <actuator name="head_tilt_motor"/>
    <joint name="head_tilt_joint"/>
    <mechanicalReduction>6.0</mechanicalReduction>
  </transmission>
  <joint name="head_plate_frame_joint" type="fixed">
    <origin rpy="0 0 0" xyz="0.0232 0 0.0645"/>
    <parent link="head_tilt_link"/>
    <child link="head_plate_frame"/>
  </joint>
  <link name="head_plate_frame">
    <inertial>
      <mass value="0.01"/>
      <origin rpy="0 0 0" xyz="0 0 0"/>
      <inertia ixx="0.001" ixy="0.0" ixz="0.0" iyy="0.001" iyz="0.0" izz="0.001"/>
    </inertial>
    <visual>
      <origin rpy="0 0 0" xyz="0 0 0"/>
      <geometry>
        <box size="0.01 0.01 0.01"/>
      </geometry>
      <material name="Blue"/>
    </visual>
    <collision group="non_gripper">
      <origin rpy="0 0 0" xyz="0 0 0"/>
      <geometry>
        <box size="0.01 0.01 0.01"/>
      </geometry>
    </collision>
  </link>
  <gazebo reference="head_plate_frame">
    <material value="Gazebo/Grey"/>
  </gazebo>
  <!-- Camera package: double stereo, prosilica -->
  <joint name="sensor_mount_frame_joint" type="fixed">
    <origin rpy="0 0 0" xyz="0.0 0.0 0.0"/>
    <parent link="head_plate_frame"/>
    <child link="sensor_mount_link"/>
  </joint>
  <link name="sensor_mount_link">
    <inertial>
      <!-- Needs verification with CAD -->
      <mass value="0.05"/>
      <origin rpy="0 0 0" xyz="0 0 0"/>
      <inertia ixx="0.001" ixy="0.0" ixz="0.0" iyy="0.001" iyz="0.0" izz="0.01"/>
    </inertial>
    <!-- Should probably get real visuals here at some point -->
    <visual>
      <origin rpy="0 0 0" xyz="0 0 0"/>
      <geometry>
        <box size="0.01 0.01 0.01"/>
      </geometry>
      <material name="Blue"/>
    </visual>
    <collision group="non_gripper" name="sensor_mount_sensor_collision">
      <origin rpy="0 0 0" xyz="0 0 0"/>
      <geometry>
        <box size="0.01 0.01 0.01"/>
      </geometry>
    </collision>
  </link>
  <joint name="high_def_frame_joint" type="fixed">
    <origin rpy="0 0 0" xyz="0 -0.109 0.035"/>
    <parent link="sensor_mount_link"/>
    <child link="high_def_frame"/>
  </joint>
  <link name="high_def_frame">
    <inertial>
      <mass value="0.01"/>
      <origin rpy="0 0 0" xyz="0 0 0"/>
      <inertia ixx="0.001" ixy="0.0" ixz="0.0" iyy="0.001" iyz="0.0" izz="0.001"/>
    </inertial>
    <visual>
      <!-- bogus values for visual aesthetics -->
      <origin rpy="0 0 0" xyz="-0.02 0 0"/>
      <geometry>
        <box size="0.04 0.04 0.04"/>
      </geometry>
      <material name="Blue"/>
    </visual>
    <collision group="non_gripper">
      <origin rpy="0 0 0" xyz="0 0 0"/>
      <geometry>
        <box size="0.01 0.01 0.01"/>
      </geometry>
    </collision>
  </link>
  <joint name="high_def_optical_frame_joint" type="fixed">
    <origin rpy="-1.57079632679 0.0 -1.57079632679" xyz="0.0            0.0         0.0"/>
    <parent link="high_def_frame"/>
    <child link="high_def_optical_frame"/>
  </joint>
  <link name="high_def_optical_frame">
    <inertial>
      <mass value="0.01"/>
      <origin rpy="0 0 0" xyz="0 0 0"/>
      <inertia ixx="0.001" ixy="0.0" ixz="0.0" iyy="0.001" iyz="0.0" izz="0.001"/>
    </inertial>
    <visual>
      <!-- bogus values for visual aesthetics -->
      <origin rpy="0 0 1.57079632679" xyz="0 0 0"/>
      <geometry>
        <cylinder length="0.05" radius="0.02"/>
      </geometry>
      <material name="Blue"/>
    </visual>
    <collision group="non_gripper">
      <origin rpy="0 0 0" xyz="0 0 0"/>
      <geometry>
        <box size="0.01 0.01 0.01"/>
      </geometry>
    </collision>
  </link>
  <gazebo reference="high_def_frame">
    <sensor:camera name="high_def_sensor">
      <imageFormat>R8G8B8</imageFormat>
      <imageSize>2448 2050</imageSize>
      <hfov>45</hfov>
      <nearClip>0.1</nearClip>
      <farClip>100</farClip>
      <updateRate>20.0</updateRate>
      <controller:gazebo_ros_prosilica name="high_def_controller" plugin="libgazebo_ros_prosilica.so">
        <alwaysOn>true</alwaysOn>
        <updateRate>20.0</updateRate>
        <imageTopicName>/prosilica/image_raw</imageTopicName>
        <cameraInfoTopicName>/prosilica/camera_info</cameraInfoTopicName>
        <pollServiceName>/prosilica/request_image</pollServiceName>
        <frameName>high_def_frame</frameName>
        <CxPrime>1224.5</CxPrime>
        <Cx>1224.5</Cx>
        <Cy>1025.5</Cy>
        <focal_length>2955</focal_length>
        <!-- image_width / (2*tan(hfov_radian /2)) -->
        <distortion_k1>0.00000001</distortion_k1>
        <distortion_k2>0.00000001</distortion_k2>
        <distortion_k3>0.00000001</distortion_k3>
        <distortion_t1>0.00000001</distortion_t1>
        <distortion_t2>0.00000001</distortion_t2>
        <interface:camera name="high_def_iface"/>
      </controller:gazebo_ros_prosilica>
    </sensor:camera>
    <material value="Gazebo/Black"/>
  </gazebo>
  <joint name="double_stereo_frame_joint" type="fixed">
    <origin rpy="0 0 0" xyz="0.0 0.0 0.003"/>
    <parent link="sensor_mount_link"/>
    <child link="double_stereo_link"/>
  </joint>
  <link name="double_stereo_link">
    <inertial>
      <!-- Needs verification with CAD -->
      <mass value="0.1"/>
      <origin rpy="0 0 0" xyz="0 0 0"/>
      <inertia ixx="0.001" ixy="0.0" ixz="0.0" iyy="0.001" iyz="0.0" izz="0.01"/>
    </inertial>
    <!-- Should probably get real visuals here at some point -->
    <visual>
      <origin rpy="0 0 0" xyz="-0.01 0 0.025"/>
      <geometry>
        <box size="0.02 0.12 0.05"/>
      </geometry>
      <material name="Blue"/>
    </visual>
    <collision group="non_gripper">
      <origin rpy="0 0 0" xyz="-0.01 0 0.025"/>
      <geometry>
        <box size="0.02 0.12 0.05"/>
      </geometry>
    </collision>
  </link>
  <joint name="wide_stereo_frame_joint" type="fixed">
    <origin rpy="0.0   0.0   0.0" xyz="0.0 0.03 0.0305"/>
    <parent link="double_stereo_link"/>
    <child link="wide_stereo_link"/>
  </joint>
  <link name="wide_stereo_link">
    <inertial>
      <mass value="0.1"/>
      <origin rpy="0 0 0" xyz="0 0 0"/>
      <inertia ixx="0.01" ixy="0" ixz="0" iyy="0.01" iyz="0" izz="0.01"/>
      <!-- this inertia is made up for now. -->
    </inertial>
    <visual>
      <origin rpy="0 0 0" xyz="0 0 0"/>
      <geometry>
        <box size="0.001 0.001 0.001"/>
      </geometry>
      <material name="Blue"/>
    </visual>
    <collision group="non_gripper">
      <origin rpy="0 0 0" xyz="0 0 0"/>
      <geometry>
        <box size="0.001 0.001 0.001"/>
      </geometry>
    </collision>
  </link>
  <joint name="wide_stereo_optical_frame_joint" type="fixed">
    <origin rpy="-1.57079632679 0.0 -1.57079632679" xyz="0 0 0"/>
    <!-- rotate frame from x-forward to z-forward camera coords -->
    <parent link="wide_stereo_link"/>
    <child link="wide_stereo_optical_frame"/>
  </joint>
  <link name="wide_stereo_optical_frame" type="camera"/>
  <joint name="wide_stereo_gazebo_l_stereo_camera_frame_joint" type="fixed">
    <origin rpy="0 0 0" xyz="0 0 0"/>
    <parent link="wide_stereo_link"/>
    <child link="wide_stereo_gazebo_l_stereo_camera_frame"/>
  </joint>
  <link name="wide_stereo_gazebo_l_stereo_camera_frame">
    <inertial>
      <mass value="0.01"/>
      <origin xyz="0 0 0"/>
      <inertia ixx="0.001" ixy="0.0" ixz="0.0" iyy="0.001" iyz="0.0" izz="0.001"/>
    </inertial>
    <visual>
      <origin rpy="0 0 0" xyz="0 0 0"/>
      <geometry>
        <box size="0.01 0.01 0.01"/>
      </geometry>
    </visual>
    <collision group="non_gripper">
      <origin rpy="0 0 0" xyz="0 0 0"/>
      <geometry>
        <box size="0.01 0.01 0.01"/>
      </geometry>
    </collision>
  </link>
  <joint name="wide_stereo_gazebo_l_stereo_camera_optical_frame_joint" type="fixed">
    <origin rpy="-1.57079632679 0.0 -1.57079632679" xyz="0 0 0"/>
    <parent link="wide_stereo_gazebo_l_stereo_camera_frame"/>
    <child link="wide_stereo_gazebo_l_stereo_camera_optical_frame"/>
  </joint>
  <link name="wide_stereo_gazebo_l_stereo_camera_optical_frame"/>
  <gazebo reference="wide_stereo_gazebo_l_stereo_camera_frame">
    <sensor:camera name="wide_stereo_gazebo_l_stereo_camera_sensor">
      <imageSize>640 480</imageSize>
      <imageFormat>BAYER_BGGR8</imageFormat>
      <hfov>90</hfov>
      <nearClip>0.1</nearClip>
      <farClip>100</farClip>
      <updateRate>25.0</updateRate>
      <controller:gazebo_ros_camera name="wide_stereo_gazebo_l_stereo_camera_controller" plugin="libgazebo_ros_camera.so">
        <alwaysOn>true</alwaysOn>
        <updateRate>25.0</updateRate>
        <imageTopicName>wide_stereo/left/image_raw</imageTopicName>
        <cameraInfoTopicName>wide_stereo/left/camera_info</cameraInfoTopicName>
        <frameName>wide_stereo_optical_frame</frameName>
        <hackBaseline>0</hackBaseline>
        <CxPrime>320.5</CxPrime>
        <Cx>320.5</Cx>
        <Cy>240.5</Cy>
        <!-- image_width / (2*tan(hfov_radian /2)) -->
        <!-- 320 for wide and 772.55 for narrow stereo camera -->
        <focal_length>320</focal_length>
        <distortion_k1>0.00000001</distortion_k1>
        <distortion_k2>0.00000001</distortion_k2>
        <distortion_k3>0.00000001</distortion_k3>
        <distortion_t1>0.00000001</distortion_t1>
        <distortion_t2>0.00000001</distortion_t2>
        <interface:camera name="wide_stereo_gazebo_l_stereo_camera_iface"/>
      </controller:gazebo_ros_camera>
    </sensor:camera>
    <turnGravityOff>true</turnGravityOff>
    <material>PR2/Blue</material>
  </gazebo>
  <joint name="wide_stereo_gazebo_r_stereo_camera_frame_joint" type="fixed">
    <origin rpy="0.0 0.0 0.0" xyz="0.0 -0.09 0.0"/>
    <parent link="wide_stereo_gazebo_l_stereo_camera_frame"/>
    <child link="wide_stereo_gazebo_r_stereo_camera_frame"/>
  </joint>
  <link name="wide_stereo_gazebo_r_stereo_camera_frame">
    <inertial>
      <mass value="0.01"/>
      <origin xyz="0 0 0"/>
      <inertia ixx="0.001" ixy="0.0" ixz="0.0" iyy="0.001" iyz="0.0" izz="0.001"/>
    </inertial>
    <visual>
      <origin rpy="0 0 0" xyz="0 0 0"/>
      <geometry>
        <box size="0.01 0.01 0.01"/>
      </geometry>
    </visual>
    <collision group="non_gripper">
      <origin rpy="0 0 0" xyz="0 0 0"/>
      <geometry>
        <box size="0.01 0.01 0.01"/>
      </geometry>
    </collision>
  </link>
  <joint name="wide_stereo_gazebo_r_stereo_camera_optical_frame_joint" type="fixed">
    <origin rpy="-1.57079632679 0.0 -1.57079632679" xyz="0 0 0"/>
    <parent link="wide_stereo_gazebo_r_stereo_camera_frame"/>
    <child link="wide_stereo_gazebo_r_stereo_camera_optical_frame"/>
  </joint>
  <link name="wide_stereo_gazebo_r_stereo_camera_optical_frame"/>
  <gazebo reference="wide_stereo_gazebo_r_stereo_camera_frame">
    <sensor:camera name="wide_stereo_gazebo_r_stereo_camera_sensor">
      <imageSize>640 480</imageSize>
      <imageFormat>BAYER_BGGR8</imageFormat>
      <hfov>90</hfov>
      <nearClip>0.1</nearClip>
      <farClip>100</farClip>
      <updateRate>25.0</updateRate>
      <controller:gazebo_ros_camera name="wide_stereo_gazebo_r_stereo_camera_controller" plugin="libgazebo_ros_camera.so">
        <alwaysOn>true</alwaysOn>
        <updateRate>25.0</updateRate>
        <imageTopicName>wide_stereo/right/image_raw</imageTopicName>
        <cameraInfoTopicName>wide_stereo/right/camera_info</cameraInfoTopicName>
        <frameName>wide_stereo_optical_frame</frameName>
        <hackBaseline>0.09</hackBaseline>
        <CxPrime>320.5</CxPrime>
        <Cx>320.5</Cx>
        <Cy>240.5</Cy>
        <!-- image_width / (2*tan(hfov_radian /2)) -->
        <!-- 320 for wide and 772.55 for narrow stereo camera -->
        <focal_length>320</focal_length>
        <distortion_k1>0.00000001</distortion_k1>
        <distortion_k2>0.00000001</distortion_k2>
        <distortion_k3>0.00000001</distortion_k3>
        <distortion_t1>0.00000001</distortion_t1>
        <distortion_t2>0.00000001</distortion_t2>
        <interface:camera name="wide_stereo_gazebo_r_stereo_camera_iface"/>
      </controller:gazebo_ros_camera>
    </sensor:camera>
    <turnGravityOff>true</turnGravityOff>
    <material>PR2/Blue</material>
  </gazebo>
  <gazebo reference="wide_stereo_link">
    <material value="PR2/Blue"/>
    <turnGravityOff value="true"/>
  </gazebo>
  <gazebo reference="wide_stereo_optical_frame">
    <material value="Gazebo/White"/>
    <turnGravityOff value="true"/>
  </gazebo>
  <joint name="narrow_stereo_frame_joint" type="fixed">
    <origin rpy="0.0   0.0   0.0" xyz="0.0 0.06 0.0305"/>
    <parent link="double_stereo_link"/>
    <child link="narrow_stereo_link"/>
  </joint>
  <link name="narrow_stereo_link">
    <inertial>
      <mass value="0.1"/>
      <origin rpy="0 0 0" xyz="0 0 0"/>
      <inertia ixx="0.01" ixy="0" ixz="0" iyy="0.01" iyz="0" izz="0.01"/>
      <!-- this inertia is made up for now. -->
    </inertial>
    <visual>
      <origin rpy="0 0 0" xyz="0 0 0"/>
      <geometry>
        <box size="0.001 0.001 0.001"/>
      </geometry>
      <material name="Blue"/>
    </visual>
    <collision group="non_gripper">
      <origin rpy="0 0 0" xyz="0 0 0"/>
      <geometry>
        <box size="0.001 0.001 0.001"/>
      </geometry>
    </collision>
  </link>
  <joint name="narrow_stereo_optical_frame_joint" type="fixed">
    <origin rpy="-1.57079632679 0.0 -1.57079632679" xyz="0 0 0"/>
    <!-- rotate frame from x-forward to z-forward camera coords -->
    <parent link="narrow_stereo_link"/>
    <child link="narrow_stereo_optical_frame"/>
  </joint>
  <link name="narrow_stereo_optical_frame" type="camera"/>
  <joint name="narrow_stereo_gazebo_l_stereo_camera_frame_joint" type="fixed">
    <origin rpy="0 0 0" xyz="0 0 0"/>
    <parent link="narrow_stereo_link"/>
    <child link="narrow_stereo_gazebo_l_stereo_camera_frame"/>
  </joint>
  <link name="narrow_stereo_gazebo_l_stereo_camera_frame">
    <inertial>
      <mass value="0.01"/>
      <origin xyz="0 0 0"/>
      <inertia ixx="0.001" ixy="0.0" ixz="0.0" iyy="0.001" iyz="0.0" izz="0.001"/>
    </inertial>
    <visual>
      <origin rpy="0 0 0" xyz="0 0 0"/>
      <geometry>
        <box size="0.01 0.01 0.01"/>
      </geometry>
    </visual>
    <collision group="non_gripper">
      <origin rpy="0 0 0" xyz="0 0 0"/>
      <geometry>
        <box size="0.01 0.01 0.01"/>
      </geometry>
    </collision>
  </link>
  <joint name="narrow_stereo_gazebo_l_stereo_camera_optical_frame_joint" type="fixed">
    <origin rpy="-1.57079632679 0.0 -1.57079632679" xyz="0 0 0"/>
    <parent link="narrow_stereo_gazebo_l_stereo_camera_frame"/>
    <child link="narrow_stereo_gazebo_l_stereo_camera_optical_frame"/>
  </joint>
  <link name="narrow_stereo_gazebo_l_stereo_camera_optical_frame"/>
  <gazebo reference="narrow_stereo_gazebo_l_stereo_camera_frame">
    <sensor:camera name="narrow_stereo_gazebo_l_stereo_camera_sensor">
      <imageSize>640 480</imageSize>
      <imageFormat>L8</imageFormat>
      <hfov>45</hfov>
      <nearClip>0.1</nearClip>
      <farClip>100</farClip>
      <updateRate>25.0</updateRate>
      <controller:gazebo_ros_camera name="narrow_stereo_gazebo_l_stereo_camera_controller" plugin="libgazebo_ros_camera.so">
        <alwaysOn>true</alwaysOn>
        <updateRate>25.0</updateRate>
        <imageTopicName>narrow_stereo/left/image_raw</imageTopicName>
        <cameraInfoTopicName>narrow_stereo/left/camera_info</cameraInfoTopicName>
        <frameName>narrow_stereo_optical_frame</frameName>
        <hackBaseline>0</hackBaseline>
        <CxPrime>320.5</CxPrime>
        <Cx>320.5</Cx>
        <Cy>240.5</Cy>
        <!-- image_width / (2*tan(hfov_radian /2)) -->
        <!-- 320 for wide and 772.55 for narrow stereo camera -->
        <focal_length>772.55</focal_length>
        <distortion_k1>0.00000001</distortion_k1>
        <distortion_k2>0.00000001</distortion_k2>
        <distortion_k3>0.00000001</distortion_k3>
        <distortion_t1>0.00000001</distortion_t1>
        <distortion_t2>0.00000001</distortion_t2>
        <interface:camera name="narrow_stereo_gazebo_l_stereo_camera_iface"/>
      </controller:gazebo_ros_camera>
    </sensor:camera>
    <turnGravityOff>true</turnGravityOff>
    <material>PR2/Blue</material>
  </gazebo>
  <joint name="narrow_stereo_gazebo_r_stereo_camera_frame_joint" type="fixed">
    <origin rpy="0.0 0.0 0.0" xyz="0.0 -0.09 0.0"/>
    <parent link="narrow_stereo_gazebo_l_stereo_camera_frame"/>
    <child link="narrow_stereo_gazebo_r_stereo_camera_frame"/>
  </joint>
  <link name="narrow_stereo_gazebo_r_stereo_camera_frame">
    <inertial>
      <mass value="0.01"/>
      <origin xyz="0 0 0"/>
      <inertia ixx="0.001" ixy="0.0" ixz="0.0" iyy="0.001" iyz="0.0" izz="0.001"/>
    </inertial>
    <visual>
      <origin rpy="0 0 0" xyz="0 0 0"/>
      <geometry>
        <box size="0.01 0.01 0.01"/>
      </geometry>
    </visual>
    <collision group="non_gripper">
      <origin rpy="0 0 0" xyz="0 0 0"/>
      <geometry>
        <box size="0.01 0.01 0.01"/>
      </geometry>
    </collision>
  </link>
  <joint name="narrow_stereo_gazebo_r_stereo_camera_optical_frame_joint" type="fixed">
    <origin rpy="-1.57079632679 0.0 -1.57079632679" xyz="0 0 0"/>
    <parent link="narrow_stereo_gazebo_r_stereo_camera_frame"/>
    <child link="narrow_stereo_gazebo_r_stereo_camera_optical_frame"/>
  </joint>
  <link name="narrow_stereo_gazebo_r_stereo_camera_optical_frame"/>
  <gazebo reference="narrow_stereo_gazebo_r_stereo_camera_frame">
    <sensor:camera name="narrow_stereo_gazebo_r_stereo_camera_sensor">
      <imageSize>640 480</imageSize>
      <imageFormat>L8</imageFormat>
      <hfov>45</hfov>
      <nearClip>0.1</nearClip>
      <farClip>100</farClip>
      <updateRate>25.0</updateRate>
      <controller:gazebo_ros_camera name="narrow_stereo_gazebo_r_stereo_camera_controller" plugin="libgazebo_ros_camera.so">
        <alwaysOn>true</alwaysOn>
        <updateRate>25.0</updateRate>
        <imageTopicName>narrow_stereo/right/image_raw</imageTopicName>
        <cameraInfoTopicName>narrow_stereo/right/camera_info</cameraInfoTopicName>
        <frameName>narrow_stereo_optical_frame</frameName>
        <hackBaseline>0.09</hackBaseline>
        <CxPrime>320.5</CxPrime>
        <Cx>320.5</Cx>
        <Cy>240.5</Cy>
        <!-- image_width / (2*tan(hfov_radian /2)) -->
        <!-- 320 for wide and 772.55 for narrow stereo camera -->
        <focal_length>772.55</focal_length>
        <distortion_k1>0.00000001</distortion_k1>
        <distortion_k2>0.00000001</distortion_k2>
        <distortion_k3>0.00000001</distortion_k3>
        <distortion_t1>0.00000001</distortion_t1>
        <distortion_t2>0.00000001</distortion_t2>
        <interface:camera name="narrow_stereo_gazebo_r_stereo_camera_iface"/>
      </controller:gazebo_ros_camera>
    </sensor:camera>
    <turnGravityOff>true</turnGravityOff>
    <material>PR2/Blue</material>
  </gazebo>
  <gazebo reference="narrow_stereo_link">
    <material value="PR2/Blue"/>
    <turnGravityOff value="true"/>
  </gazebo>
  <gazebo reference="narrow_stereo_optical_frame">
    <material value="Gazebo/White"/>
    <turnGravityOff value="true"/>
  </gazebo>
  <joint name="laser_tilt_mount_joint" type="fixed">
    <axis xyz="0 1 0"/>
    <limit effort="0.65" lower="-0.7854" upper="1.48353" velocity="10.0"/>
    <!-- alpha tested velocity and effort limits -->
    <safety_controller k_position="100" k_velocity="0.05" soft_lower_limit="-0.7354" soft_upper_limit="1.43353"/>
    <!-- hold both reference_position and upper/lower for tick-tock, remove reference_positiion after verifying upper/lower works with calibration controllers.  if search velocity in pr2_calibration_controllers.yaml is +, the reference_position is rising, if - then it is falling -->
    <calibration falling="0.0" reference_position="0.0"/>
    <dynamics damping="0.008"/>
    <origin rpy="0 0 0" xyz="0.09893 0 0.227"/>
    <parent link="torso_lift_link"/>
    <child link="laser_tilt_mount_link"/>
  </joint>
  <link name="laser_tilt_mount_link">
    <inertial>
      <mass value="0.05"/>
      <origin rpy="0 0 0" xyz="-0.03 0 -0.03"/>
      <inertia ixx="0.0001" ixy="0" ixz="0" iyy="0.00001" iyz="0" izz="0.0001"/>
    </inertial>
    <visual>
      <origin rpy="0 0 0" xyz="0 0 0"/>
      <geometry>
        <mesh filename="../meshes/tilting_laser_v0/tilting_hokuyo.obj"/>
      </geometry>
      <material name="Red"/>
    </visual>
    <collision group="non_gripper">
      <origin rpy="0 0 0" xyz="0 0 0"/>
      <geometry>
        <mesh filename="../meshes/tilting_laser_v0/tilting_hokuyo_L.obj"/>
      </geometry>
    </collision>
  </link>
  <joint name="laser_tilt_joint" type="fixed">
    <axis xyz="0 1 0"/>
    <origin rpy="0 0 0" xyz="0 0 0.03"/>
    <parent link="laser_tilt_mount_link"/>
    <child link="laser_tilt_link"/>
  </joint>
  <link name="laser_tilt_link" type="laser">
    <inertial>
      <mass value="0.001"/>
      <origin rpy="0 0 0" xyz="0 0 0"/>
      <inertia ixx="0.0001" ixy="0" ixz="0" iyy="0.000001" iyz="0" izz="0.0001"/>
    </inertial>
    <visual>
      <origin rpy="0 0 0" xyz="0 0 0"/>
      <geometry>
        <box size="0.001 0.001 0.001"/>
      </geometry>
      <material name="Red"/>
    </visual>
    <collision group="non_gripper">
      <origin rpy="0 0 0" xyz="0 0 0"/>
      <geometry>
        <box size=".001 .001 .001"/>
      </geometry>
    </collision>
  </link>
  <gazebo reference="laser_tilt_link">
    <sensor:ray name="laser_tilt">
      <rayCount>640</rayCount>
      <rangeCount>640</rangeCount>
      <laserCount>1</laserCount>
      <origin>0.0 0.0 0.0</origin>
      <displayRays>false</displayRays>
      <minAngle>-79.9999999086</minAngle>
      <maxAngle>79.9999999086</maxAngle>
      <minRange>0.05</minRange>
      <maxRange>10.0</maxRange>
      <resRange>0.01</resRange>
      <updateRate>40</updateRate>
      <controller:gazebo_ros_laser name="gazebo_ros_laser_tilt_controller" plugin="libgazebo_ros_laser.so">
        <gaussianNoise>0.005</gaussianNoise>
        <alwaysOn>true</alwaysOn>
        <updateRate>40</updateRate>
        <topicName>tilt_scan</topicName>
        <frameName>laser_tilt_link</frameName>
        <interface:laser name="gazebo_ros_laser_tilt_iface"/>
      </controller:gazebo_ros_laser>
    </sensor:ray>
  </gazebo>
  <gazebo reference="laser_tilt_mount_link">
    <material value="Gazebo/Grey"/>
  </gazebo>
  <transmission name="laser_tilt_mount_trans" type="SimpleTransmission">
    <actuator name="laser_tilt_mount_motor"/>
    <joint name="laser_tilt_mount_joint"/>
    <mechanicalReduction>-6.05</mechanicalReduction>
  </transmission>
  <!-- This is a common convention, to use a reflect parameter that equals +-1 to distinguish left from right -->
  <joint name="r_shoulder_pan_joint" type="revolute">
    <axis xyz="0 0 1"/>
    <origin rpy="0 0 0" xyz="0.0 -0.188 0.0"/>
    <!-- transform from parent link to this joint frame -->
    <parent link="torso_lift_link"/>
    <child link="r_shoulder_pan_link"/>
    <limit effort="30" lower="-2.2853981634" upper="0.714601836603" velocity="2.088"/>
    <!-- alpha tested velocity and effort limits -->
    <dynamics damping="10.0"/>
    <safety_controller k_position="100" k_velocity="10" soft_lower_limit="-2.1353981634" soft_upper_limit="0.564601836603"/>
    <!-- joint angle when the rising or the falling flag is activated on PR2 -->
    <!-- hold both reference_position and upper/lower for tick-tock, remove reference_positiion after verifying upper/lower works with calibration controllers.  if search velocity in pr2_calibration_controllers.yaml is +, the reference_position is rising, if - then it is falling -->
    <calibration reference_position="-0.785398163397" rising="-0.785398163397"/>
  </joint>
  <link name="r_shoulder_pan_link">
    <inertial>
      <mass value="25.799322"/>
      <origin rpy="0 0 0" xyz="-0.001201 0.024513 -0.098231"/>
      <inertia ixx="0.866179142480" ixy="-0.06086507933" ixz="-0.12118061183" iyy="0.87421714893" iyz="-0.05886609911" izz="0.27353821674"/>
    </inertial>
    <visual>
      <origin rpy="0 0 0" xyz="0 0 0"/>
      <geometry>
        <mesh filename="../meshes/shoulder_v0/shoulder_pan.obj"/>
      </geometry>
      <material name="Blue"/>
    </visual>
    <collision group="non_gripper">
      <origin rpy="0 0 0" xyz="0.0 0 0.0"/>
      <geometry>
        <mesh filename="../meshes/shoulder_v0/shoulder_pan.obj"/>
      </geometry>
    </collision>
  </link>
  <joint name="r_shoulder_lift_joint" type="revolute">
    <axis xyz="0 1 0"/>
    <!-- Limits updated from Function's CAD values as of 2009_02_24 (link_data.xls) -->
    <limit effort="30" lower="-0.5236" upper="1.3963" velocity="2.082"/>
    <!-- alpha tested velocity and effort limits -->
    <safety_controller k_position="100" k_velocity="10" soft_lower_limit="-0.3536" soft_upper_limit="1.2963"/>
    <!-- hold both reference_position and upper/lower for tick-tock, remove reference_positiion after verifying upper/lower works with calibration controllers.  if search velocity in pr2_calibration_controllers.yaml is +, the reference_position is rising, if - then it is falling -->
    <calibration falling="0.0" reference_position="0.0"/>
    <dynamics damping="10.0"/>
    <origin rpy="0 0 0" xyz="0.1 0 0"/>
    <parent link="r_shoulder_pan_link"/>
    <child link="r_shoulder_lift_link"/>
  </joint>
  <link name="r_shoulder_lift_link">
    <inertial>
      <mass value="2.74988"/>
      <origin rpy="0 0 0" xyz="0.02195 -0.02664 -0.03127"/>
      <inertia ixx="0.02105584615" ixy="0.00496704022" ixz="-0.00194808955" iyy="0.02127223737" iyz="0.00110425490" izz="0.01975753814"/>
    </inertial>
    <visual>
      <origin rpy="0 0 0" xyz="0 0 0"/>
      <geometry>
        <mesh filename="../meshes/shoulder_v0/shoulder_lift.obj"/>
      </geometry>
      <material name="Grey"/>
    </visual>
    <collision group="non_gripper">
      <origin rpy="0 0 0" xyz="0 0 0"/>
      <geometry>
        <mesh filename="../meshes/shoulder_v0/shoulder_lift.obj"/>
      </geometry>
    </collision>
  </link>
  <joint name="r_upper_arm_roll_joint" type="revolute">
    <axis xyz="1 0 0"/>
    <origin rpy="0 0 0" xyz="0 0 0"/>
    <parent link="r_shoulder_lift_link"/>
    <child link="r_upper_arm_roll_link"/>
    <limit effort="30" lower="-3.9" upper="0.8" velocity="3.27"/>
    <!-- alpha tested velocity and effort limits -->
    <safety_controller k_position="100" k_velocity="2" soft_lower_limit="-3.75" soft_upper_limit="0.65"/>
    <!-- hold both reference_position and upper/lower for tick-tock, remove reference_positiion after verifying upper/lower works with calibration controllers.  if search velocity in pr2_calibration_controllers.yaml is +, the reference_position is rising, if - then it is falling -->
    <calibration reference_position="-1.57079632679" rising="-1.57079632679"/>
    <dynamics damping="0.1"/>
  </joint>
  <link name="r_upper_arm_roll_link">
    <inertial>
      <!-- dummy mass, to be removed -->
      <mass value="0.1"/>
      <origin rpy="0 0 0" xyz="0.0 0 0"/>
      <inertia ixx="0.01" ixy="0.00" ixz="0.00" iyy="0.01" iyz="0.00" izz="0.01"/>
    </inertial>
    <visual>
      <!-- TODO: This component doesn't actually have a mesh -->
      <origin rpy="0 0 0" xyz="0 0 0"/>
      <geometry>
        <mesh filename="../meshes/shoulder_v0/upper_arm_roll.obj"/>
      </geometry>
      <material name="RollLinks"/>
    </visual>
    <collision group="non_gripper">
      <origin rpy="0 0 0" xyz="0 0 0"/>
      <geometry>
        <mesh filename="../meshes/shoulder_v0/upper_arm_roll_L.obj"/>
      </geometry>
    </collision>
  </link>
  <gazebo reference="r_upper_arm_roll_link">
    <material value="PR2/RollLinks"/>
    <turnGravityOff>true</turnGravityOff>
  </gazebo>
  <gazebo reference="r_upper_arm_roll_joint">
    <stopKd value="1.0"/>
    <stopKp value="1000000.0"/>
    <fudgeFactor value="0.5"/>
  </gazebo>
  <transmission name="r_upper_arm_roll_trans" type="SimpleTransmission">
    <actuator name="r_upper_arm_roll_motor"/>
    <joint name="r_upper_arm_roll_joint"/>
    <mechanicalReduction>32.6525111499</mechanicalReduction>
  </transmission>
  <gazebo reference="r_shoulder_pan_link">
    <sensor:contact name="r_shoulder_pan_contact_sensor">
      <geom>r_shoulder_pan_link_geom</geom>
      <updateRate>100.0</updateRate>
      <controller:gazebo_ros_bumper name="r_shoulder_pan_gazebo_ros_bumper_controller" plugin="libgazebo_ros_bumper.so">
        <alwaysOn>true</alwaysOn>
        <updateRate>100.0</updateRate>
        <bumperTopicName>r_shoulder_pan_bumper</bumperTopicName>
        <interface:bumper name="r_shoulder_pan_gazebo_ros_bumper_iface"/>
      </controller:gazebo_ros_bumper>
    </sensor:contact>
    <material value="PR2/Grey"/>
    <turnGravityOff>true</turnGravityOff>
  </gazebo>
  <gazebo reference="r_shoulder_pan_joint">
    <stopKd value="1.0"/>
    <stopKp value="1000000.0"/>
  </gazebo>
  <gazebo reference="r_shoulder_lift_link">
    <sensor:contact name="r_shoulder_lift_contact_sensor">
      <geom>r_shoulder_lift_link_geom</geom>
      <updateRate>100.0</updateRate>
      <controller:gazebo_ros_bumper name="r_shoulder_lift_gazebo_ros_bumper_controller" plugin="libgazebo_ros_bumper.so">
        <alwaysOn>true</alwaysOn>
        <updateRate>100.0</updateRate>
        <bumperTopicName>r_r_shoulder_lift_bumper</bumperTopicName>
        <interface:bumper name="r_shoulder_lift_gazebo_ros_bumper_iface"/>
      </controller:gazebo_ros_bumper>
    </sensor:contact>
    <turnGravityOff>true</turnGravityOff>
  </gazebo>
  <gazebo reference="r_shoulder_lift_joint">
    <stopKd value="1.0"/>
    <stopKp value="1000000.0"/>
  </gazebo>
  <transmission name="r_shoulder_pan_trans" type="SimpleTransmission">
    <actuator name="r_shoulder_pan_motor"/>
    <joint name="r_shoulder_pan_joint"/>
    <mechanicalReduction>63.1552452977</mechanicalReduction>
  </transmission>
  <transmission name="r_shoulder_lift_trans" type="SimpleTransmission">
    <actuator name="r_shoulder_lift_motor"/>
    <joint name="r_shoulder_lift_joint"/>
    <mechanicalReduction>61.8948225713</mechanicalReduction>
  </transmission>
  <joint name="r_upper_arm_joint" type="fixed">
    <origin rpy="0 0 0" xyz="0 0 0"/>
    <parent link="r_upper_arm_roll_link"/>
    <child link="r_upper_arm_link"/>
  </joint>
  <link name="r_upper_arm_link">
    <inertial>
      <!-- NOTE:reflect==-1 for right side, reflect==1 for the left side -->
      <mass value="6.01769"/>
      <origin xyz="0.21398 -0.01621 -0.0002"/>
      <inertia ixx="0.01537748957" ixy="0.00375711247" ixz="-0.00070852914" iyy="0.0747367044" iyz="-0.0001793645" izz="0.07608763307"/>
    </inertial>
    <visual>
      <origin rpy="0 0 0" xyz="0 0 0"/>
      <geometry>
        <mesh filename="../meshes/upper_arm_v0/upper_arm.obj"/>
      </geometry>
      <material name="Green"/>
    </visual>
    <collision group="non_gripper">
      <origin rpy="0 0 0" xyz="0 0 0"/>
      <geometry>
        <mesh filename="../meshes/upper_arm_v0/upper_arm.obj"/>
      </geometry>
    </collision>
  </link>
  <gazebo reference="r_upper_arm_link">
    <sensor:contact name="r_upper_arm_contact_sensor">
      <geom>r_upper_arm_link_geom</geom>
      <!-- TODO -->
      <updateRate>100.0</updateRate>
      <controller:gazebo_ros_bumper name="r_upper_arm_gazebo_ros_bumper_controller" plugin="libgazebo_ros_bumper.so">
        <alwaysOn>true</alwaysOn>
        <updateRate>100.0</updateRate>
        <bumperTopicName>r_upper_arm_bumper</bumperTopicName>
        <interface:bumper name="r_upper_arm_gazebo_ros_bumper_iface"/>
      </controller:gazebo_ros_bumper>
    </sensor:contact>
    <turnGravityOff>true</turnGravityOff>
  </gazebo>
  <joint name="r_forearm_roll_joint" type="continuous">
    <!-- continuous -->
    <axis xyz="1 0 0"/>
    <limit effort="30" velocity="3.6"/>
    <!-- alpha tested velocity and effort limits -->
    <safety_controller k_velocity="1"/>
    <!-- hold both reference_position and upper/lower for tick-tock, remove reference_positiion after verifying upper/lower works with calibration controllers.  if search velocity in pr2_calibration_controllers.yaml is +, the reference_position is rising, if - then it is falling -->
    <calibration reference_position="0.0" rising="0.0"/>
    <dynamics damping="0.1"/>
    <origin rpy="0 0 0" xyz="0 0 0"/>
    <parent link="r_elbow_flex_link"/>
    <child link="r_forearm_roll_link"/>
  </joint>
  <link name="r_forearm_roll_link">
    <inertial>
      <!-- dummy masses, to be removed -->
      <mass value="0.1"/>
      <origin xyz="0 0 0"/>
      <inertia ixx="0.01" ixy="0.00" ixz="0.00" iyy="0.01" iyz="0.00" izz="0.01"/>
    </inertial>
    <visual>
      <origin rpy="0 0 0" xyz="0 0 0"/>
      <geometry>
        <mesh filename="../meshes/upper_arm_v0/forearm_roll.obj"/>
      </geometry>
      <material name="RollLinks"/>
    </visual>
    <!-- TODO: collision tag should be optional -->
    <collision group="non_gripper">
      <origin rpy="0 0 0" xyz="0 0 0"/>
      <geometry>
        <mesh filename="../meshes/upper_arm_v0/forearm_roll_L.obj"/>
      </geometry>
    </collision>
  </link>
  <gazebo reference="r_forearm_roll_link">
    <material value="PR2/RollLinks"/>
    <turnGravityOff>true</turnGravityOff>
  </gazebo>
  <gazebo reference="r_forearm_roll_joint">
    <fudgeFactor value="0.5"/>
  </gazebo>
  <transmission name="r_forearm_roll_trans" type="SimpleTransmission">
    <actuator name="r_forearm_roll_motor"/>
    <joint name="r_forearm_roll_joint"/>
    <mechanicalReduction>-90.5142857143</mechanicalReduction>
  </transmission>
  <joint name="r_elbow_flex_joint" type="revolute">
    <axis xyz="0 1 0"/>
    <!-- Note: Overtravel limits are 140, -7 degrees instead of 133, 0 -->
    <limit effort="30" lower="-2.3213" upper="0.00" velocity="3.3"/>
    <!-- alpha tested velocity and effort limits -->
    <safety_controller k_position="100" k_velocity="3" soft_lower_limit="-2.1213" soft_upper_limit="-0.15"/>
    <!-- hold both reference_position and upper/lower for tick-tock, remove reference_positiion after verifying upper/lower works with calibration controllers.  if search velocity in pr2_calibration_controllers.yaml is +, the reference_position is rising, if - then it is falling -->
    <calibration falling="-1.1606" reference_position="-1.1606"/>
    <dynamics damping="1.0"/>
    <origin rpy="0 0 0" xyz="0.4 0 0"/>
    <parent link="r_upper_arm_link"/>
    <child link="r_elbow_flex_link"/>
  </joint>
  <link name="r_elbow_flex_link">
    <inertial>
      <mass value="1.90327"/>
      <origin xyz="0.01014 0.00032 -0.01211"/>
      <inertia ixx="0.00346541989" ixy="0.00004066825" ixz="0.00043171614" iyy="0.00441606455" iyz="-0.00003968914" izz="0.00359156824"/>
    </inertial>
    <visual>
      <origin rpy="0 0 0" xyz="0 0 0"/>
      <geometry>
        <mesh filename="../meshes/upper_arm_v0/elbow_flex.obj"/>
      </geometry>
      <material name="Grey"/>
    </visual>
    <collision group="non_gripper">
      <origin rpy="0 0 0" xyz="0 0 0"/>
      <geometry>
        <mesh filename="../meshes/upper_arm_v0/elbow_flex.obj"/>
      </geometry>
    </collision>
  </link>
  <gazebo reference="r_elbow_flex_joint">
    <initial_joint_position>-1.0</initial_joint_position>
  </gazebo>
  <gazebo reference="r_elbow_flex_link">
    <sensor:contact name="r_elbow_flex_contact_sensor">
      <geom>r_elbow_flex_link_geom</geom>
      <updateRate>100.0</updateRate>
      <controller:gazebo_ros_bumper name="r_elbow_flex_gazebo_ros_bumper_controller" plugin="libgazebo_ros_bumper.so">
        <alwaysOn>true</alwaysOn>
        <updateRate>100.0</updateRate>
        <bumperTopicName>r_elbow_flex_bumper</bumperTopicName>
        <interface:bumper name="r_elbow_flex_gazebo_ros_bumper_iface"/>
      </controller:gazebo_ros_bumper>
    </sensor:contact>
    <material value="PR2/Grey"/>
    <turnGravityOff>true</turnGravityOff>
  </gazebo>
  <gazebo reference="r_elbow_flex_joint">
    <stopKd value="1.0"/>
    <stopKp value="1000000.0"/>
  </gazebo>
  <transmission name="r_elbow_flex_trans" type="SimpleTransmission">
    <actuator name="r_elbow_flex_motor"/>
    <joint name="r_elbow_flex_joint"/>
    <mechanicalReduction>-36.167452007</mechanicalReduction>
  </transmission>
  <joint name="r_forearm_joint" type="fixed">
    <origin rpy="0 0 0" xyz="0 0 0"/>
    <!-- transform from parent link to this joint frame -->
    <parent link="r_forearm_roll_link"/>
    <child link="r_forearm_link"/>
  </joint>
  <link name="r_forearm_link">
    <inertial>
      <mass value="2.57968"/>
      <origin xyz="0.18791 -0.00017 -0.00912"/>
      <inertia ixx="0.00364857222" ixy="0.00005215877" ixz="0.00071534842" iyy="0.01507736897" iyz="-0.00001310770" izz="0.01659310749"/>
    </inertial>
    <visual>
      <origin rpy="0 0 0" xyz="0 0 0"/>
      <geometry>
        <mesh filename="../meshes/forearm_v0/forearm.obj"/>
      </geometry>
      <material name="Grey"/>
    </visual>
    <collision group="non_gripper">
      <origin rpy="0 0 0" xyz="0 0 0"/>
      <geometry>
        <mesh filename="../meshes/forearm_v0/forearm.obj"/>
      </geometry>
    </collision>
  </link>
  <joint name="r_wrist_flex_joint" type="revolute">
    <axis xyz="0 1 0"/>
    <limit effort="10" lower="-2.094" upper="0.0" velocity="3.078"/>
    <!-- alpha tested velocity and effort limits -->
    <safety_controller k_position="20" k_velocity="4" soft_lower_limit="-1.994" soft_upper_limit="-0.1"/>
    <dynamics damping="0.1"/>
    <!-- hold both reference_position and upper/lower for tick-tock, remove reference_positiion after verifying upper/lower works with calibration controllers.  if search velocity in pr2_calibration_controllers.yaml is +, the reference_position is rising, if - then it is falling -->
    <calibration falling="-0.5410521" reference_position="-0.5410521"/>
    <origin rpy="0 0 0" xyz="0.321 0 0"/>
    <parent link="r_forearm_link"/>
    <child link="r_wrist_flex_link"/>
  </joint>
  <link name="r_wrist_flex_link">
    <inertial>
      <mass value="0.61402"/>
      <origin xyz="-0.00157 0.0 -0.00075"/>
      <inertia ixx="0.00065165722" ixy="0.00000028864" ixz="0.00000303477" iyy="0.00019824443" iyz="-0.00000022645" izz="0.00064450498"/>
    </inertial>
    <visual>
      <origin rpy="0 0 0" xyz="0 0 0"/>
      <geometry>
        <mesh filename="../meshes/forearm_v0/wrist_flex.obj"/>
      </geometry>
      <material name="Grey"/>
    </visual>
    <collision group="non_gripper">
      <origin rpy="0 0 0" xyz="0 0 0"/>
      <geometry>
        <mesh filename="../meshes/forearm_v0/wrist_flex.obj"/>
      </geometry>
    </collision>
  </link>
  <joint name="r_wrist_roll_joint" type="continuous">
    <!-- continuous -->
    <axis xyz="1 0 0"/>
    <limit effort="10" velocity="3.6"/>
    <!-- alpha tested velocity and effort limits -->
    <safety_controller k_velocity="2"/>
    <dynamics damping="0.1"/>
    <!-- hold both reference_position and upper/lower for tick-tock, remove reference_positiion after verifying upper/lower works with calibration controllers.  if search velocity in pr2_calibration_controllers.yaml is +, the reference_position is rising, if - then it is falling -->
    <calibration reference_position="-1.57079632679" rising="-1.57079632679"/>
    <origin rpy="0 0 0" xyz="0 0 0"/>
    <parent link="r_wrist_flex_link"/>
    <child link="r_wrist_roll_link"/>
  </joint>
  <link name="r_wrist_roll_link">
    <inertial>
      <!-- dummy masses, to be removed.  wrist roll masses are on "gripper_palm" -->
      <mass value="0.1"/>
      <origin xyz="0 0 0"/>
      <inertia ixx="0.01" ixy="0" ixz="0" iyy="0.01" iyz="0" izz="0.01"/>
    </inertial>
    <visual>
      <origin rpy="0 0 0" xyz="0 0 0"/>
      <geometry>
        <mesh filename="../meshes/forearm_v0/wrist_roll.obj"/>
      </geometry>
      <material name="RollLinks"/>
    </visual>
    <collision group="non_gripper">
      <origin rpy="0 0 0" xyz="0 0 0"/>
      <geometry>
        <mesh filename="../meshes/forearm_v0/wrist_roll_L.obj"/>
      </geometry>
      <verbose value="Yes"/>
    </collision>
  </link>
  <gazebo reference="r_forearm_link">
    <turnGravityOff>true</turnGravityOff>
    <sensor:contact name="r_forearm_contact_sensor">
      <geom>r_forearm_link_geom</geom>
      <updateRate>100.0</updateRate>
      <controller:gazebo_ros_bumper name="r_forearm_gazebo_ros_bumper_controller" plugin="libgazebo_ros_bumper.so">
        <alwaysOn>true</alwaysOn>
        <updateRate>100.0</updateRate>
        <bumperTopicName>r_forearm_bumper</bumperTopicName>
        <interface:bumper name="r_forearm_gazebo_ros_bumper_iface"/>
      </controller:gazebo_ros_bumper>
    </sensor:contact>
  </gazebo>
  <gazebo reference="r_wrist_flex_link">
    <turnGravityOff>true</turnGravityOff>
    <sensor:contact name="r_wrist_flex_contact_sensor">
      <geom>r_wrist_flex_link_geom</geom>
      <updateRate>100.0</updateRate>
      <controller:gazebo_ros_bumper name="r_wrist_flex_gazebo_ros_bumper_controller" plugin="libgazebo_ros_bumper.so">
        <alwaysOn>true</alwaysOn>
        <updateRate>100.0</updateRate>
        <bumperTopicName>r_wrist_flex_bumper</bumperTopicName>
        <interface:bumper name="r_wrist_flex_gazebo_ros_bumper_iface"/>
      </controller:gazebo_ros_bumper>
    </sensor:contact>
    <material value="PR2/Grey"/>
  </gazebo>
  <gazebo reference="r_wrist_flex_joint">
    <stopKd value="1.0"/>
    <stopKp value="1000000.0"/>
  </gazebo>
  <gazebo reference="r_wrist_roll_link">
    <turnGravityOff>true</turnGravityOff>
    <sensor:contact name="r_wrist_roll_contact_sensor">
      <geom>r_wrist_roll_link_geom</geom>
      <updateRate>100.0</updateRate>
      <controller:gazebo_ros_bumper name="r_wrist_roll_gazebo_ros_bumper_controller" plugin="libgazebo_ros_bumper.so">
        <alwaysOn>true</alwaysOn>
        <updateRate>100.0</updateRate>
        <bumperTopicName>r_wrist_roll_bumper</bumperTopicName>
        <interface:bumper name="r_wrist_roll_gazebo_ros_bumper_iface"/>
      </controller:gazebo_ros_bumper>
    </sensor:contact>
    <material value="PR2/RollLinks"/>
  </gazebo>
  <gazebo reference="r_wrist_roll_joint">
    <fudgeFactor value="0.5"/>
  </gazebo>
  <!-- WristTransmission replaced for Drake compatibility -->
  <!--
  <transmission name="r_wrist_trans" type="WristTransmission">
    <rightActuator mechanicalReduction="60.1714285714" name="r_wrist_r_motor"/>
    <leftActuator mechanicalReduction="60.1714285714" name="r_wrist_l_motor"/>
    <flexJoint mechanicalReduction="-1.0" name="r_wrist_flex_joint"/>
    <rollJoint mechanicalReduction="1.0" name="r_wrist_roll_joint"/>
  </transmission>-->
  <transmission name="r_wrist_flex_trans" type="SimpleTransmission">
    <actuator name="r_wrist_flex_motor"/>
    <joint name="r_wrist_flex_joint"/>
    <mechanicalReduction>60.1714285714</mechanicalReduction>
  </transmission>
  <transmission name="r_wrist_roll_trans" type="SimpleTransmission">
    <actuator name="r_wrist_roll_motor"/>
    <joint name="r_wrist_roll_joint"/>
    <mechanicalReduction>60.1714285714</mechanicalReduction>
  </transmission>
  <joint name="r_gripper_palm_joint" type="fixed">
    <origin rpy="0 0 0" xyz="0 0 0"/>
    <parent link="r_wrist_roll_link"/>
    <child link="r_gripper_palm_link"/>
  </joint>
  <link name="r_gripper_palm_link">
    <inertial>
      <mass value="0.58007"/>
      <origin rpy="0 0 0" xyz="0.06623 0.00053 -0.00119"/>
      <inertia ixx="0.00035223921" ixy="-0.00001580476" ixz="-0.00000091750" iyy="0.00067741312" iyz="-0.00000059554" izz="0.00086563316"/>
    </inertial>
    <visual>
      <origin rpy="0 0 0" xyz="0 0 0"/>
      <geometry>
        <mesh filename="../meshes/gripper_v0/gripper_palm.obj"/>
      </geometry>
      <material name="Red"/>
    </visual>
    <collision group="non_gripper">
      <origin rpy="0 0 0" xyz="0 0 0"/>
      <geometry>
        <mesh filename="../meshes/gripper_v0/gripper_palm.obj"/>
      </geometry>
      <verbose value="Yes"/>
    </collision>
  </link>
  <joint name="r_gripper_led_joint" type="fixed">
    <!--  Need to check if we need a positive or negative Z term -->
    <origin xyz="0.0513 0.0 .0244"/>
    <parent link="r_gripper_palm_link"/>
    <child link="r_gripper_led_frame"/>
  </joint>
  <link name="r_gripper_led_frame"/>
  <joint name="r_gripper_motor_accelerometer_joint" type="fixed">
    <origin rpy="0 0 0" xyz="0 0 0"/>
    <parent link="r_gripper_palm_link"/>
    <child link="r_gripper_motor_accelerometer_link"/>
  </joint>
  <link name="r_gripper_motor_accelerometer_link">
    <inertial>
      <mass value="0.001"/>
      <origin rpy="0 0 0" xyz="0 0 0"/>
      <inertia ixx="0.001" ixy="0.0" ixz="0.0" iyy="0.001" iyz="0.0" izz="0.001"/>
    </inertial>
    <visual>
      <origin rpy="0 0 0" xyz="0 0 0"/>
      <geometry>
        <box size="0.001 0.001 0.001"/>
      </geometry>
    </visual>
    <collision group="non_gripper">
      <origin rpy="0 0 0" xyz="0 0 0"/>
      <geometry>
        <box size="0.001 0.001 0.001"/>
      </geometry>
    </collision>
  </link>
  <joint name="r_gripper_tool_joint" type="fixed">
    <origin rpy="0 0 0" xyz="0.18 0 0"/>
    <parent link="r_gripper_palm_link"/>
    <child link="r_gripper_tool_frame"/>
  </joint>
  <link name="r_gripper_tool_frame"/>
  <joint name="r_gripper_l_finger_joint" type="revolute">
    <axis xyz="0 0 1"/>
    <limit effort="1000.0" lower="0.0" upper="0.548" velocity="0.5"/>
    <dynamics damping="0.2"/>
    <origin rpy="0 0 0" xyz="0.07691 0.01 0"/>
    <parent link="r_gripper_palm_link"/>
    <child link="r_gripper_l_finger_link"/>
  </joint>
  <link name="r_gripper_l_finger_link">
    <inertial>
      <mass value="0.17126"/>
      <origin rpy="0 0 0" xyz="0.03598 0.01730 -0.00164"/>
      <inertia ixx="0.00007756198" ixy="0.00000149095" ixz="-0.00000983385" iyy="0.00019708305" iyz="-0.00000306125" izz="0.00018105446"/>
    </inertial>
    <visual>
      <origin rpy="0 0 0" xyz="0 0 0"/>
      <geometry>
        <mesh filename="../meshes/gripper_v0/l_finger.obj"/>
      </geometry>
      <material name="Grey"/>
    </visual>
    <collision group="non_gripper">
      <origin rpy="0 0 0" xyz="0 0 0"/>
      <geometry>
        <mesh filename="../meshes/gripper_v0/l_finger.obj"/>
      </geometry>
      <verbose value="Yes"/>
    </collision>
  </link>
  <joint name="r_gripper_r_finger_joint" type="revolute">
    <axis xyz="0 0 -1"/>
    <origin rpy="0 0 0" xyz="0.07691 -0.01 0"/>
    <limit effort="1000.0" lower="0.0" upper="0.548" velocity="0.5"/>
    <dynamics damping="0.2"/>
    <mimic joint="r_gripper_l_finger_joint" multiplier="1" offset="0"/>
    <parent link="r_gripper_palm_link"/>
    <child link="r_gripper_r_finger_link"/>
  </joint>
  <link name="r_gripper_r_finger_link">
    <inertial>
      <mass value="0.17389"/>
      <origin rpy="0 0 0" xyz="0.03576 -0.01736 -0.00095"/>
      <inertia ixx="0.00007738410" ixy="-0.00000209309" ixz="-0.00000836228" iyy="0.00019847383" iyz="0.00000246110" izz="0.00018106988"/>
    </inertial>
    <visual>
      <origin rpy="3.14159265359 0 0" xyz="0 0 0"/>
      <geometry>
        <mesh filename="../meshes/gripper_v0/l_finger.obj"/>
      </geometry>
      <material name="Grey"/>
    </visual>
    <collision group="non_gripper">
      <origin rpy="3.14159265359 0 0" xyz="0 0 0"/>
      <geometry>
        <mesh filename="../meshes/gripper_v0/l_finger.obj"/>
      </geometry>
      <verbose value="Yes"/>
    </collision>
  </link>
  <joint name="r_gripper_l_parallel_root_joint" type="fixed">
    <axis xyz="0 0 1"/>
    <origin rpy="0 0 0" xyz="0.05891 0.031 0"/>
    <dynamics damping="0.2"/>
    <mimic joint="r_gripper_l_finger_joint" multiplier="1" offset="0"/>
    <parent link="r_gripper_palm_link"/>
    <child link="r_gripper_l_parallel_link"/>
    <limit effort="1000.0" lower="0.0" upper="0.548" velocity="0.5"/>
  </joint>
  <joint name="r_gripper_r_parallel_root_joint" type="fixed">
    <axis xyz="0 0 -1"/>
    <origin rpy="0 0 0" xyz="0.05891 -0.031 0"/>
    <dynamics damping="0.2"/>
    <mimic joint="r_gripper_l_finger_joint" multiplier="-1" offset="0"/>
    <parent link="r_gripper_palm_link"/>
    <child link="r_gripper_r_parallel_link"/>
    <limit effort="1000.0" lower="0.0" upper="0.548" velocity="0.5"/>
  </joint>
  <link name="r_gripper_l_parallel_link">
    <inertial>
      <mass value="0.17126"/>
      <origin rpy="0 0 0" xyz="0.03598 0.01730 -0.00164"/>
      <inertia ixx="0.00007756198" ixy="0.00000149095" ixz="-0.00000983385" iyy="0.00019708305" iyz="-0.00000306125" izz="0.00018105446"/>
    </inertial>
    <!--<visual>
        <origin xyz="${0.0914942479/2.0} 0 0" rpy="0 0 0.0541224233" />
        <geometry>
          <box size="${0.0914942479} 0.005 0.005" />
        </geometry>
        <material name="Green" />
      </visual>-->
    <!--collision group="non_gripper">
      <origin rpy="0 0 0.0541224233" xyz="0.04574712395 0 0"/>
      <geometry>
        <box size="0.0914942479 0.005 0.005"/>
      </geometry>
      <verbose value="Yes"/>
    </collision-->
  </link>
  <link name="r_gripper_r_parallel_link">
    <inertial>
      <mass value="0.17389"/>
      <origin rpy="0 0 0" xyz="0.03576 -0.01736 -0.00095"/>
      <inertia ixx="0.00007738410" ixy="-0.00000209309" ixz="-0.00000836228" iyy="0.00019847383" iyz="0.00000246110" izz="0.00018106988"/>
    </inertial>
    <!--<visual>
        <origin xyz="${0.0914942479/2.0} 0 0" rpy="0 0 -0.0541224233" />
        <geometry>
          <box size="${0.0914942479} 0.005 0.005" />
        </geometry>
        <material name="Green" />
      </visual>-->
    <!--collision group="non_gripper">
      <origin rpy="0 0 -0.0541224233" xyz="0.04574712395 0 0"/>
      <geometry>
        <box size="0.0914942479 0.005 0.005"/>
      </geometry>
      <verbose value="Yes"/>
    </collision-->
  </link>
  <joint name="r_gripper_l_finger_tip_joint" type="revolute">
    <axis xyz="0 0 -1"/>
    <origin rpy="0 0 0" xyz="0.09137 0.00495 0"/>
    <limit effort="1000.0" lower="0.0" upper="0.548" velocity="0.5"/>
    <dynamics damping="0.01"/>
    <mimic joint="r_gripper_l_finger_joint" multiplier="1" offset="0"/>
    <parent link="r_gripper_l_finger_link"/>
    <child link="r_gripper_l_finger_tip_link"/>
  </joint>
  <link name="r_gripper_l_finger_tip_link">
    <inertial>
      <mass value="0.04419"/>
      <origin rpy="0 0 0" xyz="0.00423 0.00284 0.0"/>
      <inertia ixx="0.00000837047" ixy="0.00000583632" ixz="0.0" iyy="0.00000987067" iyz="0.0" izz="0.00001541768"/>
    </inertial>
    <visual>
      <origin rpy="0 0 0" xyz="0 0 0"/>
      <geometry>
        <mesh filename="../meshes/gripper_v0/l_finger_tip.obj"/>
      </geometry>
      <material name="Green"/>
    </visual>
    <collision group="finger_tips">
      <origin rpy="0 0 0" xyz="0 0 0"/>
      <geometry>
        <mesh filename="../meshes/gripper_v0/l_finger_tip.obj"/>
      </geometry>
      <verbose value="Yes"/>
    </collision>
  </link>
  <joint name="r_gripper_r_finger_tip_joint" type="revolute">
    <axis xyz="0 0 1"/>
    <origin rpy="0 0 0" xyz="0.09137 -0.00495 0"/>
    <limit effort="1000.0" lower="0.0" upper="0.548" velocity="0.5"/>
    <dynamics damping="0.01"/>
    <mimic joint="r_gripper_l_finger_joint" multiplier="1" offset="0"/>
    <parent link="r_gripper_r_finger_link"/>
    <child link="r_gripper_r_finger_tip_link"/>
  </joint>
  <link name="r_gripper_r_finger_tip_link">
    <inertial>
      <mass value="0.04419"/>
      <origin rpy="0 0 0" xyz="0.00423 -0.00284 0.0"/>
      <inertia ixx="0.00000837047" ixy="-0.00000583632" ixz="0.0" iyy="0.00000987067" iyz="0.0" izz="0.00001541768"/>
    </inertial>
    <visual>
      <origin rpy="3.14159265359 0 0" xyz="0 0 0"/>
      <geometry>
        <mesh filename="../meshes/gripper_v0/l_finger_tip.obj"/>
      </geometry>
      <material name="Green"/>
    </visual>
    <collision group="finger_tips">
      <origin rpy="3.14159265359 0 0" xyz="0 0 0"/>
      <geometry>
        <mesh filename="../meshes/gripper_v0/l_finger_tip.obj"/>
      </geometry>
      <verbose value="Yes"/>
    </collision>
  </link>
  <gazebo reference="r_gripper_l_finger_link">
    <turnGravityOff>true</turnGravityOff>
    <sensor:contact name="r_gripper_l_finger_contact_sensor">
      <geom>r_gripper_l_finger_link_geom</geom>
      <updateRate>100.0</updateRate>
      <controller:gazebo_ros_bumper name="r_gripper_l_finger_gazebo_ros_bumper_controller" plugin="libgazebo_ros_bumper.so">
        <alwaysOn>true</alwaysOn>
        <updateRate>100.0</updateRate>
        <bumperTopicName>r_gripper_l_finger_bumper</bumperTopicName>
        <interface:bumper name="r_gripper_l_finger_gazebo_ros_bumper_iface"/>
      </controller:gazebo_ros_bumper>
    </sensor:contact>
    <mu1 value="500.0"/>
    <mu2 value="500.0"/>
    <kp value="1000000.0"/>
    <kd value="1.0"/>
    <material value="PR2/Grey"/>
    <!-- for "${prefix}_l_finger_joint"-->
  </gazebo>
  <gazebo reference="r_gripper_l_finger_joint">
    <stopKd value="1.0"/>
    <stopKp value="10000000.0"/>
    <fudgeFactor value="1.0"/>
    <provideFeedback value="true"/>
  </gazebo>
  <gazebo reference="r_gripper_r_finger_link">
    <turnGravityOff>true</turnGravityOff>
    <sensor:contact name="r_gripper_r_finger_contact_sensor">
      <geom>r_gripper_r_finger_link_geom</geom>
      <updateRate>100.0</updateRate>
      <controller:gazebo_ros_bumper name="r_gripper_r_finger_gazebo_ros_bumper_controller" plugin="libgazebo_ros_bumper.so">
        <alwaysOn>true</alwaysOn>
        <updateRate>100.0</updateRate>
        <bumperTopicName>r_gripper_r_finger_bumper</bumperTopicName>
        <interface:bumper name="r_gripper_r_finger_gazebo_ros_bumper_iface"/>
      </controller:gazebo_ros_bumper>
    </sensor:contact>
    <mu1 value="500.0"/>
    <mu2 value="500.0"/>
    <kp value="1000000.0"/>
    <kd value="1.0"/>
    <material value="PR2/Grey"/>
  </gazebo>
  <gazebo reference="r_gripper_r_finger_joint">
    <stopKd value="1.0"/>
    <stopKp value="10000000.0"/>
    <fudgeFactor value="1.0"/>
    <provideFeedback value="true"/>
  </gazebo>
  <gazebo reference="r_gripper_l_finger_tip_link">
    <turnGravityOff>true</turnGravityOff>
    <selfCollide>false</selfCollide>
    <sensor:contact name="r_gripper_l_finger_tip_contact_sensor">
      <geom>r_gripper_l_finger_tip_link_geom</geom>
      <updateRate>100.0</updateRate>
      <controller:gazebo_ros_bumper name="r_gripper_l_finger_tip_gazebo_ros_bumper_controller" plugin="libgazebo_ros_bumper.so">
        <alwaysOn>true</alwaysOn>
        <updateRate>100.0</updateRate>
        <bumperTopicName>r_gripper_l_finger_tip_bumper</bumperTopicName>
        <interface:bumper name="r_gripper_l_finger_tip_gazebo_ros_bumper_iface"/>
      </controller:gazebo_ros_bumper>
    </sensor:contact>
    <mu1 value="500.0"/>
    <mu2 value="500.0"/>
    <kp value="10000000.0"/>
    <kd value="1.0"/>
    <material value="PR2/Grey"/>
  </gazebo>
  <gazebo reference="r_gripper_l_finger_tip_joint">
    <stopKd value="1.0"/>
    <stopKp value="10000000.0"/>
    <fudgeFactor value="1.0"/>
    <provideFeedback value="true"/>
  </gazebo>
  <gazebo reference="r_gripper_r_finger_tip_link">
    <turnGravityOff>true</turnGravityOff>
    <selfCollide>false</selfCollide>
    <sensor:contact name="r_gripper_r_finger_tip_contact_sensor">
      <geom>r_gripper_r_finger_tip_link_geom</geom>
      <updateRate>100.0</updateRate>
      <controller:gazebo_ros_bumper name="r_gripper_r_finger_tip_gazebo_ros_bumper_controller" plugin="libgazebo_ros_bumper.so">
        <alwaysOn>true</alwaysOn>
        <updateRate>100.0</updateRate>
        <bumperTopicName>r_gripper_r_finger_tip_bumper</bumperTopicName>
        <interface:bumper name="r_gripper_r_finger_tip_gazebo_ros_bumper_iface"/>
      </controller:gazebo_ros_bumper>
    </sensor:contact>
    <mu1 value="500.0"/>
    <mu2 value="500.0"/>
    <kp value="10000000.0"/>
    <kd value="1.0"/>
    <material value="PR2/Grey"/>
  </gazebo>
  <gazebo>
    <controller:gazebo_ros_p3d name="p3d_r_gripper_l_finger_controller" plugin="libgazebo_ros_p3d.so">
      <alwaysOn>true</alwaysOn>
      <updateRate>100.0</updateRate>
      <bodyName>r_gripper_l_finger_link</bodyName>
      <topicName>r_gripper_l_finger_pose_ground_truth</topicName>
      <gaussianNoise>0.0</gaussianNoise>
      <frameName>base_link</frameName>
      <interface:position name="p3d_r_gripper_l_finger_position_iface"/>
    </controller:gazebo_ros_p3d>
    <controller:gazebo_ros_f3d name="f3d_r_gripper_l_finger_controller" plugin="libgazebo_ros_f3d.so">
      <alwaysOn>true</alwaysOn>
      <updateRate>100.0</updateRate>
      <bodyName>r_gripper_l_finger_link</bodyName>
      <topicName>r_gripper_l_finger_force_ground_truth</topicName>
      <frameName>r_gripper_l_finger_link</frameName>
      <interface:position name="f3d_r_gripper_l_finger_force_iface"/>
    </controller:gazebo_ros_f3d>
  </gazebo>
  <gazebo reference="r_gripper_r_finger_tip_joint">
    <stopKd value="1.0"/>
    <stopKp value="10000000.0"/>
    <fudgeFactor value="1.0"/>
    <provideFeedback value="true"/>
  </gazebo>
  <gazebo>
    <joint:hinge name="r_gripper_r_parallel_tip_joint">
      <body1>r_gripper_r_parallel_link</body1>
      <body2>r_gripper_r_finger_tip_link</body2>
      <anchor>r_gripper_r_finger_tip_link</anchor>
      <axis>0 0 1</axis>
      <anchorOffset>-0.018 -0.021 0</anchorOffset>
    </joint:hinge>
    <joint:hinge name="r_gripper_l_parallel_tip_joint">
      <body1>r_gripper_l_parallel_link</body1>
      <body2>r_gripper_l_finger_tip_link</body2>
      <anchor>r_gripper_l_finger_tip_link</anchor>
      <axis>0 0 1</axis>
      <anchorOffset>-0.018 0.021 0</anchorOffset>
    </joint:hinge>
    <joint:slider name="r_gripper_joint">
      <body1>r_gripper_l_finger_tip_link</body1>
      <body2>r_gripper_r_finger_tip_link</body2>
      <anchor>r_gripper_r_finger_tip_link</anchor>
      <axis>0 1 0</axis>
    </joint:slider>
  </gazebo>
  <gazebo reference="r_gripper_l_parallel_link">
    <turnGravityOff>true</turnGravityOff>
    <material value="PR2/Red"/>
  </gazebo>
  <gazebo reference="r_gripper_r_parallel_link">
    <turnGravityOff>true</turnGravityOff>
    <material value="PR2/Red"/>
  </gazebo>
  <!-- Some gripper joints are replaced for Drake compatibility -->
  <!--
  <joint name="r_gripper_joint" type="prismatic">
    <parent link="r_gripper_r_finger_tip_link"/>
    <child link="r_gripper_l_finger_tip_link"/>
    <axis xyz="0 1 0"/>
    <dynamics damping="100.0"/>
    <limit effort="1000.0" lower="0.0" upper="0.09" velocity="0.2"/>
    <safety_controller k_position="20.0" k_velocity="5000.0" soft_lower_limit="-0.01" soft_upper_limit="0.088"/>
  </joint>-->
  <!--link name="r_gripper_l_finger_tip_frame"/-->
  <gazebo reference="r_gripper_palm_link">
    <turnGravityOff>true</turnGravityOff>
    <sensor:contact name="r_gripper_palm_contact_sensor">
      <geom>r_gripper_palm_link_geom</geom>
      <updateRate>100.0</updateRate>
      <controller:gazebo_ros_bumper name="r_gripper_palm_gazebo_ros_bumper_controller" plugin="libgazebo_ros_bumper.so">
        <alwaysOn>true</alwaysOn>
        <updateRate>100.0</updateRate>
        <bumperTopicName>r_gripper_palm_bumper</bumperTopicName>
        <interface:bumper name="r_gripper_palm_gazebo_ros_bumper_iface"/>
      </controller:gazebo_ros_bumper>
    </sensor:contact>
    <material value="PR2/Grey"/>
  </gazebo>
  <gazebo>
    <controller:gazebo_ros_p3d name="p3d_r_gripper_palm_controller" plugin="libgazebo_ros_p3d.so">
      <alwaysOn>true</alwaysOn>
      <updateRate>100.0</updateRate>
      <bodyName>r_gripper_palm_link</bodyName>
      <topicName>r_gripper_palm_pose_ground_truth</topicName>
      <xyzOffsets>0 0 0</xyzOffsets>
      <rpyOffsets>0 0 0</rpyOffsets>
      <gaussianNoise>0.0</gaussianNoise>
      <frameName>map</frameName>
      <interface:position name="p3d_r_gripper_palm_position_iface"/>
    </controller:gazebo_ros_p3d>
  </gazebo>
  <!-- PR2GripperTransmission commented for Drake compatibility -->
  <!--
  <transmission name="r_gripper_trans" type="PR2GripperTransmission">
    <actuator name="r_gripper_motor"/>
    <gap_joint L0="0.0375528" a="0.0683698" b="0.0433849" gear_ratio="40.095" h="0.0" mechanical_reduction="1.0" name="r_gripper_joint" phi0="0.518518122146" r="0.0915" screw_reduction="0.004" t0="-0.0001914" theta0="0.0628824676201"/>
    < if a gazebo joint exists as [l|r]_gripper_joint, use this tag to have
           gripper transmission apply torque directly to fixed joint >
    <use_simulated_gripper_joint/>
    <passive_joint name="r_gripper_l_finger_joint"/>
    <passive_joint name="r_gripper_r_finger_joint"/>
    <passive_joint name="r_gripper_r_finger_tip_joint"/>
    <passive_joint name="r_gripper_l_finger_tip_joint"/>
    <passive_joint name="r_gripper_r_parallel_root_joint"/>
    <passive_joint name="r_gripper_l_parallel_root_joint"/>
  </transmission>-->
  <transmission name="r_gripper_l_finger_trans" type="SimpleTransmission">
    <actuator name="r_gripper_l_finger_motor"/>
    <joint name="r_gripper_l_finger_joint"/>
    <mechanicalReduction>1.0</mechanicalReduction>
  </transmission>
  <transmission name="r_gripper_r_finger_trans" type="SimpleTransmission">
    <actuator name="r_gripper_r_finger_motor"/>
    <joint name="r_gripper_r_finger_joint"/>
    <mechanicalReduction>1.0</mechanicalReduction>
  </transmission>
  <transmission name="r_gripper_l_finger_tip_trans" type="SimpleTransmission">
    <actuator name="r_gripper_l_finger_tip_motor"/>
    <joint name="r_gripper_l_finger_tip_joint"/>
    <mechanicalReduction>1.0</mechanicalReduction>
  </transmission>
  <transmission name="r_gripper_r_finger_tip_trans" type="SimpleTransmission">
    <actuator name="r_gripper_r_finger_tip_motor"/>
    <joint name="r_gripper_r_finger_tip_joint"/>
    <mechanicalReduction>1.0</mechanicalReduction>
  </transmission>
  <joint name="l_shoulder_pan_joint" type="revolute">
    <axis xyz="0 0 1"/>
    <origin rpy="0 0 0" xyz="0.0 0.188 0.0"/>
    <!-- transform from parent link to this joint frame -->
    <parent link="torso_lift_link"/>
    <child link="l_shoulder_pan_link"/>
    <limit effort="30" lower="-0.714601836603" upper="2.2853981634" velocity="2.088"/>
    <!-- alpha tested velocity and effort limits -->
    <dynamics damping="10.0"/>
    <safety_controller k_position="100" k_velocity="10" soft_lower_limit="-0.564601836603" soft_upper_limit="2.1353981634"/>
    <!-- joint angle when the rising or the falling flag is activated on PR2 -->
    <!-- hold both reference_position and upper/lower for tick-tock, remove reference_positiion after verifying upper/lower works with calibration controllers.  if search velocity in pr2_calibration_controllers.yaml is +, the reference_position is rising, if - then it is falling -->
    <calibration reference_position="0.785398163397" rising="0.785398163397"/>
  </joint>
  <link name="l_shoulder_pan_link">
    <inertial>
      <mass value="25.799322"/>
      <origin rpy="0 0 0" xyz="-0.001201 0.024513 -0.098231"/>
      <inertia ixx="0.866179142480" ixy="-0.06086507933" ixz="-0.12118061183" iyy="0.87421714893" iyz="-0.05886609911" izz="0.27353821674"/>
    </inertial>
    <visual>
      <origin rpy="0 0 0" xyz="0 0 0"/>
      <geometry>
        <mesh filename="../meshes/shoulder_v0/shoulder_pan.obj"/>
      </geometry>
      <material name="Blue"/>
    </visual>
    <collision group="non_gripper">
      <origin rpy="0 0 0" xyz="0.0 0 0.0"/>
      <geometry>
        <mesh filename="../meshes/shoulder_v0/shoulder_pan.obj"/>
      </geometry>
    </collision>
  </link>
  <joint name="l_shoulder_lift_joint" type="revolute">
    <axis xyz="0 1 0"/>
    <!-- Limits updated from Function's CAD values as of 2009_02_24 (link_data.xls) -->
    <limit effort="30" lower="-0.5236" upper="1.3963" velocity="2.082"/>
    <!-- alpha tested velocity and effort limits -->
    <safety_controller k_position="100" k_velocity="10" soft_lower_limit="-0.3536" soft_upper_limit="1.2963"/>
    <!-- hold both reference_position and upper/lower for tick-tock, remove reference_positiion after verifying upper/lower works with calibration controllers.  if search velocity in pr2_calibration_controllers.yaml is +, the reference_position is rising, if - then it is falling -->
    <calibration falling="0.0" reference_position="0.0"/>
    <dynamics damping="10.0"/>
    <origin rpy="0 0 0" xyz="0.1 0 0"/>
    <parent link="l_shoulder_pan_link"/>
    <child link="l_shoulder_lift_link"/>
  </joint>
  <link name="l_shoulder_lift_link">
    <inertial>
      <mass value="2.74988"/>
      <origin rpy="0 0 0" xyz="0.02195 -0.02664 -0.03127"/>
      <inertia ixx="0.02105584615" ixy="0.00496704022" ixz="-0.00194808955" iyy="0.02127223737" iyz="0.00110425490" izz="0.01975753814"/>
    </inertial>
    <visual>
      <origin rpy="0 0 0" xyz="0 0 0"/>
      <geometry>
        <mesh filename="../meshes/shoulder_v0/shoulder_lift.obj"/>
      </geometry>
      <material name="Grey"/>
    </visual>
    <collision group="non_gripper">
      <origin rpy="0 0 0" xyz="0 0 0"/>
      <geometry>
        <mesh filename="../meshes/shoulder_v0/shoulder_lift.obj"/>
      </geometry>
    </collision>
  </link>
  <joint name="l_upper_arm_roll_joint" type="revolute">
    <axis xyz="1 0 0"/>
    <origin rpy="0 0 0" xyz="0 0 0"/>
    <parent link="l_shoulder_lift_link"/>
    <child link="l_upper_arm_roll_link"/>
    <limit effort="30" lower="-0.8" upper="3.9" velocity="3.27"/>
    <!-- alpha tested velocity and effort limits -->
    <safety_controller k_position="100" k_velocity="2" soft_lower_limit="-0.65" soft_upper_limit="3.75"/>
    <!-- hold both reference_position and upper/lower for tick-tock, remove reference_positiion after verifying upper/lower works with calibration controllers.  if search velocity in pr2_calibration_controllers.yaml is +, the reference_position is rising, if - then it is falling -->
    <calibration reference_position="1.57079632679" rising="1.57079632679"/>
    <dynamics damping="0.1"/>
  </joint>
  <link name="l_upper_arm_roll_link">
    <inertial>
      <!-- dummy mass, to be removed -->
      <mass value="0.1"/>
      <origin rpy="0 0 0" xyz="0.0 0 0"/>
      <inertia ixx="0.01" ixy="0.00" ixz="0.00" iyy="0.01" iyz="0.00" izz="0.01"/>
    </inertial>
    <visual>
      <!-- TODO: This component doesn't actually have a mesh -->
      <origin rpy="0 0 0" xyz="0 0 0"/>
      <geometry>
        <mesh filename="../meshes/shoulder_v0/upper_arm_roll.obj"/>
      </geometry>
      <material name="RollLinks"/>
    </visual>
    <collision group="non_gripper">
      <origin rpy="0 0 0" xyz="0 0 0"/>
      <geometry>
        <mesh filename="../meshes/shoulder_v0/upper_arm_roll_L.obj"/>
      </geometry>
    </collision>
  </link>
  <gazebo reference="l_upper_arm_roll_link">
    <material value="PR2/RollLinks"/>
    <turnGravityOff>true</turnGravityOff>
  </gazebo>
  <gazebo reference="l_upper_arm_roll_joint">
    <stopKd value="1.0"/>
    <stopKp value="1000000.0"/>
    <fudgeFactor value="0.5"/>
  </gazebo>
  <transmission name="l_upper_arm_roll_trans" type="SimpleTransmission">
    <actuator name="l_upper_arm_roll_motor"/>
    <joint name="l_upper_arm_roll_joint"/>
    <mechanicalReduction>32.6525111499</mechanicalReduction>
  </transmission>
  <gazebo reference="l_shoulder_pan_link">
    <sensor:contact name="l_shoulder_pan_contact_sensor">
      <geom>l_shoulder_pan_link_geom</geom>
      <updateRate>100.0</updateRate>
      <controller:gazebo_ros_bumper name="l_shoulder_pan_gazebo_ros_bumper_controller" plugin="libgazebo_ros_bumper.so">
        <alwaysOn>true</alwaysOn>
        <updateRate>100.0</updateRate>
        <bumperTopicName>l_shoulder_pan_bumper</bumperTopicName>
        <interface:bumper name="l_shoulder_pan_gazebo_ros_bumper_iface"/>
      </controller:gazebo_ros_bumper>
    </sensor:contact>
    <material value="PR2/Grey"/>
    <turnGravityOff>true</turnGravityOff>
  </gazebo>
  <gazebo reference="l_shoulder_pan_joint">
    <stopKd value="1.0"/>
    <stopKp value="1000000.0"/>
  </gazebo>
  <gazebo reference="l_shoulder_lift_link">
    <sensor:contact name="l_shoulder_lift_contact_sensor">
      <geom>l_shoulder_lift_link_geom</geom>
      <updateRate>100.0</updateRate>
      <controller:gazebo_ros_bumper name="l_shoulder_lift_gazebo_ros_bumper_controller" plugin="libgazebo_ros_bumper.so">
        <alwaysOn>true</alwaysOn>
        <updateRate>100.0</updateRate>
        <bumperTopicName>l_r_shoulder_lift_bumper</bumperTopicName>
        <interface:bumper name="l_shoulder_lift_gazebo_ros_bumper_iface"/>
      </controller:gazebo_ros_bumper>
    </sensor:contact>
    <turnGravityOff>true</turnGravityOff>
  </gazebo>
  <gazebo reference="l_shoulder_lift_joint">
    <stopKd value="1.0"/>
    <stopKp value="1000000.0"/>
  </gazebo>
  <transmission name="l_shoulder_pan_trans" type="SimpleTransmission">
    <actuator name="l_shoulder_pan_motor"/>
    <joint name="l_shoulder_pan_joint"/>
    <mechanicalReduction>63.1552452977</mechanicalReduction>
  </transmission>
  <transmission name="l_shoulder_lift_trans" type="SimpleTransmission">
    <actuator name="l_shoulder_lift_motor"/>
    <joint name="l_shoulder_lift_joint"/>
    <mechanicalReduction>61.8948225713</mechanicalReduction>
  </transmission>
  <joint name="l_upper_arm_joint" type="fixed">
    <origin rpy="0 0 0" xyz="0 0 0"/>
    <parent link="l_upper_arm_roll_link"/>
    <child link="l_upper_arm_link"/>
  </joint>
  <link name="l_upper_arm_link">
    <inertial>
      <!-- NOTE:reflect==-1 for right side, reflect==1 for the left side -->
      <mass value="6.01769"/>
      <origin xyz="0.21405 0.01658 -0.00057"/>
      <inertia ixx="0.01530603856" ixy="-0.00339324862" ixz="0.00060765455" iyy="0.07473694455" iyz="-0.00019953729" izz="0.07601594191"/>
    </inertial>
    <visual>
      <origin rpy="0 0 0" xyz="0 0 0"/>
      <geometry>
        <mesh filename="../meshes/upper_arm_v0/upper_arm.obj"/>
      </geometry>
      <material name="Green"/>
    </visual>
    <collision group="non_gripper">
      <origin rpy="0 0 0" xyz="0 0 0"/>
      <geometry>
        <mesh filename="../meshes/upper_arm_v0/upper_arm.obj"/>
      </geometry>
    </collision>
  </link>
  <gazebo reference="l_upper_arm_link">
    <sensor:contact name="l_upper_arm_contact_sensor">
      <geom>l_upper_arm_link_geom</geom>
      <!-- TODO -->
      <updateRate>100.0</updateRate>
      <controller:gazebo_ros_bumper name="l_upper_arm_gazebo_ros_bumper_controller" plugin="libgazebo_ros_bumper.so">
        <alwaysOn>true</alwaysOn>
        <updateRate>100.0</updateRate>
        <bumperTopicName>l_upper_arm_bumper</bumperTopicName>
        <interface:bumper name="l_upper_arm_gazebo_ros_bumper_iface"/>
      </controller:gazebo_ros_bumper>
    </sensor:contact>
    <turnGravityOff>true</turnGravityOff>
  </gazebo>
  <joint name="l_forearm_roll_joint" type="continuous">
    <!--continuous-->
    <axis xyz="1 0 0"/>
    <limit effort="30" velocity="3.6"/>
    <!-- alpha tested velocity and effort limits -->
    <safety_controller k_velocity="1"/>
    <!-- hold both reference_position and upper/lower for tick-tock, remove reference_positiion after verifying upper/lower works with calibration controllers.  if search velocity in pr2_calibration_controllers.yaml is +, the reference_position is rising, if - then it is falling -->
    <calibration reference_position="0.0" rising="0.0"/>
    <dynamics damping="0.1"/>
    <origin rpy="0 0 0" xyz="0 0 0"/>
    <parent link="l_elbow_flex_link"/>
    <child link="l_forearm_roll_link"/>
  </joint>
  <link name="l_forearm_roll_link">
    <inertial>
      <!-- dummy masses, to be removed -->
      <mass value="0.1"/>
      <origin xyz="0 0 0"/>
      <inertia ixx="0.01" ixy="0.00" ixz="0.00" iyy="0.01" iyz="0.00" izz="0.01"/>
    </inertial>
    <visual>
      <origin rpy="0 0 0" xyz="0 0 0"/>
      <geometry>
        <mesh filename="../meshes/upper_arm_v0/forearm_roll.obj"/>
      </geometry>
      <material name="RollLinks"/>
    </visual>
    <!-- TODO: collision tag should be optional -->
    <collision group="non_gripper">
      <origin rpy="0 0 0" xyz="0 0 0"/>
      <geometry>
        <mesh filename="../meshes/upper_arm_v0/forearm_roll_L.obj"/>
      </geometry>
    </collision>
  </link>
  <gazebo reference="l_forearm_roll_link">
    <material value="PR2/RollLinks"/>
    <turnGravityOff>true</turnGravityOff>
  </gazebo>
  <gazebo reference="l_forearm_roll_joint">
    <fudgeFactor value="0.5"/>
  </gazebo>
  <transmission name="l_forearm_roll_trans" type="SimpleTransmission">
    <actuator name="l_forearm_roll_motor"/>
    <joint name="l_forearm_roll_joint"/>
    <mechanicalReduction>-90.5142857143</mechanicalReduction>
  </transmission>
  <joint name="l_elbow_flex_joint" type="revolute">
    <axis xyz="0 1 0"/>
    <!-- Note: Overtravel limits are 140, -7 degrees instead of 133, 0 -->
    <limit effort="30" lower="-2.3213" upper="0.00" velocity="3.3"/>
    <!-- alpha tested velocity and effort limits -->
    <safety_controller k_position="100" k_velocity="3" soft_lower_limit="-2.1213" soft_upper_limit="-0.15"/>
    <!-- hold both reference_position and upper/lower for tick-tock, remove reference_positiion after verifying upper/lower works with calibration controllers.  if search velocity in pr2_calibration_controllers.yaml is +, the reference_position is rising, if - then it is falling -->
    <calibration falling="-1.1606" reference_position="-1.1606"/>
    <dynamics damping="1.0"/>
    <origin rpy="0 0 0" xyz="0.4 0 0"/>
    <parent link="l_upper_arm_link"/>
    <child link="l_elbow_flex_link"/>
  </joint>
  <link name="l_elbow_flex_link">
    <inertial>
      <mass value="1.90327"/>
      <origin xyz="0.01014 0.00032 -0.01211"/>
      <inertia ixx="0.00346541989" ixy="0.00004066825" ixz="0.00043171614" iyy="0.00441606455" iyz="-0.00003968914" izz="0.00359156824"/>
    </inertial>
    <visual>
      <origin rpy="0 0 0" xyz="0 0 0"/>
      <geometry>
        <mesh filename="../meshes/upper_arm_v0/elbow_flex.obj"/>
      </geometry>
      <material name="Grey"/>
    </visual>
    <collision group="non_gripper">
      <origin rpy="0 0 0" xyz="0 0 0"/>
      <geometry>
        <mesh filename="../meshes/upper_arm_v0/elbow_flex.obj"/>
      </geometry>
    </collision>
  </link>
  <gazebo reference="l_elbow_flex_joint">
    <initial_joint_position>-1.0</initial_joint_position>
  </gazebo>
  <gazebo reference="l_elbow_flex_link">
    <sensor:contact name="l_elbow_flex_contact_sensor">
      <geom>l_elbow_flex_link_geom</geom>
      <updateRate>100.0</updateRate>
      <controller:gazebo_ros_bumper name="l_elbow_flex_gazebo_ros_bumper_controller" plugin="libgazebo_ros_bumper.so">
        <alwaysOn>true</alwaysOn>
        <updateRate>100.0</updateRate>
        <bumperTopicName>l_elbow_flex_bumper</bumperTopicName>
        <interface:bumper name="l_elbow_flex_gazebo_ros_bumper_iface"/>
      </controller:gazebo_ros_bumper>
    </sensor:contact>
    <material value="PR2/Grey"/>
    <turnGravityOff>true</turnGravityOff>
  </gazebo>
  <gazebo reference="l_elbow_flex_joint">
    <stopKd value="1.0"/>
    <stopKp value="1000000.0"/>
  </gazebo>
  <transmission name="l_elbow_flex_trans" type="SimpleTransmission">
    <actuator name="l_elbow_flex_motor"/>
    <joint name="l_elbow_flex_joint"/>
    <mechanicalReduction>-36.167452007</mechanicalReduction>
  </transmission>
  <joint name="l_forearm_joint" type="fixed">
    <origin rpy="0 0 0" xyz="0 0 0"/>
    <!-- transform from parent link to this joint frame -->
    <parent link="l_forearm_roll_link"/>
    <child link="l_forearm_link"/>
  </joint>
  <link name="l_forearm_link">
    <inertial>
      <mass value="2.57968"/>
      <origin xyz="0.18791 -0.00017 -0.00912"/>
      <inertia ixx="0.00364857222" ixy="0.00005215877" ixz="0.00071534842" iyy="0.01507736897" iyz="-0.00001310770" izz="0.01659310749"/>
    </inertial>
    <visual>
      <origin rpy="0 0 0" xyz="0 0 0"/>
      <geometry>
        <mesh filename="../meshes/forearm_v0/forearm.obj"/>
      </geometry>
      <material name="Grey"/>
    </visual>
    <collision group="non_gripper">
      <origin rpy="0 0 0" xyz="0 0 0"/>
      <geometry>
        <mesh filename="../meshes/forearm_v0/forearm.obj"/>
      </geometry>
    </collision>
  </link>
  <joint name="l_wrist_flex_joint" type="revolute">
    <axis xyz="0 1 0"/>
    <limit effort="10" lower="-2.094" upper="0.0" velocity="3.078"/>
    <!-- alpha tested velocity and effort limits -->
    <safety_controller k_position="20" k_velocity="4" soft_lower_limit="-1.994" soft_upper_limit="-0.1"/>
    <dynamics damping="0.1"/>
    <!-- hold both reference_position and upper/lower for tick-tock, remove reference_positiion after verifying upper/lower works with calibration controllers.  if search velocity in pr2_calibration_controllers.yaml is +, the reference_position is rising, if - then it is falling -->
    <calibration falling="-0.5410521" reference_position="-0.5410521"/>
    <origin rpy="0 0 0" xyz="0.321 0 0"/>
    <parent link="l_forearm_link"/>
    <child link="l_wrist_flex_link"/>
  </joint>
  <link name="l_wrist_flex_link">
    <inertial>
      <mass value="0.61402"/>
      <origin xyz="-0.00157 0.0 -0.00075"/>
      <inertia ixx="0.00065165722" ixy="0.00000028864" ixz="0.00000303477" iyy="0.00019824443" iyz="-0.00000022645" izz="0.00064450498"/>
    </inertial>
    <visual>
      <origin rpy="0 0 0" xyz="0 0 0"/>
      <geometry>
        <mesh filename="../meshes/forearm_v0/wrist_flex.obj"/>
      </geometry>
      <material name="Grey"/>
    </visual>
    <collision group="non_gripper">
      <origin rpy="0 0 0" xyz="0 0 0"/>
      <geometry>
        <mesh filename="../meshes/forearm_v0/wrist_flex.obj"/>
      </geometry>
    </collision>
  </link>
  <joint name="l_wrist_roll_joint" type="continuous">
    <!-- continuous -->
    <axis xyz="1 0 0"/>
    <limit effort="10" velocity="3.6"/>
    <!-- alpha tested velocity and effort limits -->
    <safety_controller k_velocity="2"/>
    <dynamics damping="0.1"/>
    <!-- hold both reference_position and upper/lower for tick-tock, remove reference_positiion after verifying upper/lower works with calibration controllers.  if search velocity in pr2_calibration_controllers.yaml is +, the reference_position is rising, if - then it is falling -->
    <calibration reference_position="-1.57079632679" rising="-1.57079632679"/>
    <origin rpy="0 0 0" xyz="0 0 0"/>
    <parent link="l_wrist_flex_link"/>
    <child link="l_wrist_roll_link"/>
  </joint>
  <link name="l_wrist_roll_link">
    <inertial>
      <!-- dummy masses, to be removed.  wrist roll masses are on "gripper_palm" -->
      <mass value="0.1"/>
      <origin xyz="0 0 0"/>
      <inertia ixx="0.01" ixy="0" ixz="0" iyy="0.01" iyz="0" izz="0.01"/>
    </inertial>
    <visual>
      <origin rpy="0 0 0" xyz="0 0 0"/>
      <geometry>
        <mesh filename="../meshes/forearm_v0/wrist_roll.obj"/>
      </geometry>
      <material name="RollLinks"/>
    </visual>
    <collision group="non_gripper">
      <origin rpy="0 0 0" xyz="0 0 0"/>
      <geometry>
        <mesh filename="../meshes/forearm_v0/wrist_roll_L.obj"/>
      </geometry>
      <verbose value="Yes"/>
    </collision>
  </link>
  <gazebo reference="l_forearm_link">
    <turnGravityOff>true</turnGravityOff>
    <sensor:contact name="l_forearm_contact_sensor">
      <geom>l_forearm_link_geom</geom>
      <updateRate>100.0</updateRate>
      <controller:gazebo_ros_bumper name="l_forearm_gazebo_ros_bumper_controller" plugin="libgazebo_ros_bumper.so">
        <alwaysOn>true</alwaysOn>
        <updateRate>100.0</updateRate>
        <bumperTopicName>l_forearm_bumper</bumperTopicName>
        <interface:bumper name="l_forearm_gazebo_ros_bumper_iface"/>
      </controller:gazebo_ros_bumper>
    </sensor:contact>
  </gazebo>
  <gazebo reference="l_wrist_flex_link">
    <turnGravityOff>true</turnGravityOff>
    <sensor:contact name="l_wrist_flex_contact_sensor">
      <geom>l_wrist_flex_link_geom</geom>
      <updateRate>100.0</updateRate>
      <controller:gazebo_ros_bumper name="l_wrist_flex_gazebo_ros_bumper_controller" plugin="libgazebo_ros_bumper.so">
        <alwaysOn>true</alwaysOn>
        <updateRate>100.0</updateRate>
        <bumperTopicName>l_wrist_flex_bumper</bumperTopicName>
        <interface:bumper name="l_wrist_flex_gazebo_ros_bumper_iface"/>
      </controller:gazebo_ros_bumper>
    </sensor:contact>
    <material value="PR2/Grey"/>
  </gazebo>
  <gazebo reference="l_wrist_flex_joint">
    <stopKd value="1.0"/>
    <stopKp value="1000000.0"/>
  </gazebo>
  <gazebo reference="l_wrist_roll_link">
    <turnGravityOff>true</turnGravityOff>
    <sensor:contact name="l_wrist_roll_contact_sensor">
      <geom>l_wrist_roll_link_geom</geom>
      <updateRate>100.0</updateRate>
      <controller:gazebo_ros_bumper name="l_wrist_roll_gazebo_ros_bumper_controller" plugin="libgazebo_ros_bumper.so">
        <alwaysOn>true</alwaysOn>
        <updateRate>100.0</updateRate>
        <bumperTopicName>l_wrist_roll_bumper</bumperTopicName>
        <interface:bumper name="l_wrist_roll_gazebo_ros_bumper_iface"/>
      </controller:gazebo_ros_bumper>
    </sensor:contact>
    <material value="PR2/RollLinks"/>
  </gazebo>
  <gazebo reference="l_wrist_roll_joint">
    <fudgeFactor value="0.5"/>
  </gazebo>
  <!-- WristTransmission commented for Drake compatibility -->
  <!--
  <transmission name="l_wrist_trans" type="WristTransmission">
    <rightActuator mechanicalReduction="60.1714285714" name="l_wrist_r_motor"/>
    <leftActuator mechanicalReduction="60.1714285714" name="l_wrist_l_motor"/>
    <flexJoint mechanicalReduction="-1.0" name="l_wrist_flex_joint"/>
    <rollJoint mechanicalReduction="1.0" name="l_wrist_roll_joint"/>
  </transmission>
  -->
  <transmission name="l_wrist_flex_trans" type="SimpleTransmission">
    <actuator name="l_wrist_flex_motor"/>
    <joint name="l_wrist_flex_joint"/>
    <mechanicalReduction>60.1714285714</mechanicalReduction>
  </transmission>
  <transmission name="l_wrist_roll_trans" type="SimpleTransmission">
    <actuator name="l_wrist_roll_motor"/>
    <joint name="l_wrist_roll_joint"/>
    <mechanicalReduction>60.1714285714</mechanicalReduction>
  </transmission>
  <joint name="l_gripper_palm_joint" type="fixed">
    <origin rpy="0 0 0" xyz="0 0 0"/>
    <parent link="l_wrist_roll_link"/>
    <child link="l_gripper_palm_link"/>
  </joint>
  <link name="l_gripper_palm_link">
    <inertial>
      <mass value="0.58007"/>
      <origin rpy="0 0 0" xyz="0.06623 0.00053 -0.00119"/>
      <inertia ixx="0.00035223921" ixy="-0.00001580476" ixz="-0.00000091750" iyy="0.00067741312" iyz="-0.00000059554" izz="0.00086563316"/>
    </inertial>
    <visual>
      <origin rpy="0 0 0" xyz="0 0 0"/>
      <geometry>
        <mesh filename="../meshes/gripper_v0/gripper_palm.obj"/>
      </geometry>
      <material name="Red"/>
    </visual>
    <collision group="non_gripper">
      <origin rpy="0 0 0" xyz="0 0 0"/>
      <geometry>
        <mesh filename="../meshes/gripper_v0/gripper_palm.obj"/>
      </geometry>
      <verbose value="Yes"/>
    </collision>
  </link>
  <joint name="l_gripper_led_joint" type="fixed">
    <!--  Need to check if we need a positive or negative Z term -->
    <origin xyz="0.0513 0.0 .0244"/>
    <parent link="l_gripper_palm_link"/>
    <child link="l_gripper_led_frame"/>
  </joint>
  <link name="l_gripper_led_frame"/>
  <joint name="l_gripper_motor_accelerometer_joint" type="fixed">
    <origin rpy="0 0 0" xyz="0 0 0"/>
    <parent link="l_gripper_palm_link"/>
    <child link="l_gripper_motor_accelerometer_link"/>
  </joint>
  <link name="l_gripper_motor_accelerometer_link">
    <inertial>
      <mass value="0.001"/>
      <origin rpy="0 0 0" xyz="0 0 0"/>
      <inertia ixx="0.001" ixy="0.0" ixz="0.0" iyy="0.001" iyz="0.0" izz="0.001"/>
    </inertial>
    <visual>
      <origin rpy="0 0 0" xyz="0 0 0"/>
      <geometry>
        <box size="0.001 0.001 0.001"/>
      </geometry>
    </visual>
    <collision group="non_gripper">
      <origin rpy="0 0 0" xyz="0 0 0"/>
      <geometry>
        <box size="0.001 0.001 0.001"/>
      </geometry>
    </collision>
  </link>
  <joint name="l_gripper_tool_joint" type="fixed">
    <origin rpy="0 0 0" xyz="0.18 0 0"/>
    <parent link="l_gripper_palm_link"/>
    <child link="l_gripper_tool_frame"/>
  </joint>
  <link name="l_gripper_tool_frame"/>
  <joint name="l_gripper_l_finger_joint" type="revolute">
    <axis xyz="0 0 1"/>
    <limit effort="1000.0" lower="0.0" upper="0.548" velocity="0.5"/>
    <dynamics damping="0.2"/>
    <origin rpy="0 0 0" xyz="0.07691 0.01 0"/>
    <parent link="l_gripper_palm_link"/>
    <child link="l_gripper_l_finger_link"/>
  </joint>
  <link name="l_gripper_l_finger_link">
    <inertial>
      <mass value="0.17126"/>
      <origin rpy="0 0 0" xyz="0.03598 0.01730 -0.00164"/>
      <inertia ixx="0.00007756198" ixy="0.00000149095" ixz="-0.00000983385" iyy="0.00019708305" iyz="-0.00000306125" izz="0.00018105446"/>
    </inertial>
    <visual>
      <origin rpy="0 0 0" xyz="0 0 0"/>
      <geometry>
        <mesh filename="../meshes/gripper_v0/l_finger.obj"/>
      </geometry>
      <material name="Grey"/>
    </visual>
    <collision group="non_gripper">
      <origin rpy="0 0 0" xyz="0 0 0"/>
      <geometry>
        <mesh filename="../meshes/gripper_v0/l_finger.obj"/>
      </geometry>
      <verbose value="Yes"/>
    </collision>
  </link>
  <joint name="l_gripper_r_finger_joint" type="revolute">
    <axis xyz="0 0 -1"/>
    <origin rpy="0 0 0" xyz="0.07691 -0.01 0"/>
    <limit effort="1000.0" lower="0.0" upper="0.548" velocity="0.5"/>
    <dynamics damping="0.2"/>
    <mimic joint="l_gripper_l_finger_joint" multiplier="1" offset="0"/>
    <parent link="l_gripper_palm_link"/>
    <child link="l_gripper_r_finger_link"/>
  </joint>
  <link name="l_gripper_r_finger_link">
    <inertial>
      <mass value="0.17389"/>
      <origin rpy="0 0 0" xyz="0.03576 -0.01736 -0.00095"/>
      <inertia ixx="0.00007738410" ixy="-0.00000209309" ixz="-0.00000836228" iyy="0.00019847383" iyz="0.00000246110" izz="0.00018106988"/>
    </inertial>
    <visual>
      <origin rpy="3.14159265359 0 0" xyz="0 0 0"/>
      <geometry>
        <mesh filename="../meshes/gripper_v0/l_finger.obj"/>
      </geometry>
      <material name="Grey"/>
    </visual>
    <collision group="non_gripper">
      <origin rpy="3.14159265359 0 0" xyz="0 0 0"/>
      <geometry>
        <mesh filename="../meshes/gripper_v0/l_finger.obj"/>
      </geometry>
      <verbose value="Yes"/>
    </collision>
  </link>
  <joint name="l_gripper_l_parallel_root_joint" type="fixed">
    <axis xyz="0 0 1"/>
    <origin rpy="0 0 0" xyz="0.05891 0.031 0"/>
    <dynamics damping="0.2"/>
    <mimic joint="l_gripper_l_finger_joint" multiplier="1" offset="0"/>
    <parent link="l_gripper_palm_link"/>
    <child link="l_gripper_l_parallel_link"/>
    <limit effort="1000.0" lower="0.0" upper="0.548" velocity="0.5"/>
  </joint>
  <joint name="l_gripper_r_parallel_root_joint" type="fixed">
    <axis xyz="0 0 -1"/>
    <origin rpy="0 0 0" xyz="0.05891 -0.031 0"/>
    <dynamics damping="0.2"/>
    <mimic joint="l_gripper_l_finger_joint" multiplier="-1" offset="0"/>
    <parent link="l_gripper_palm_link"/>
    <child link="l_gripper_r_parallel_link"/>
    <limit effort="1000.0" lower="0.0" upper="0.548" velocity="0.5"/>
  </joint>
  <link name="l_gripper_l_parallel_link">
    <inertial>
      <mass value="0.17126"/>
      <origin rpy="0 0 0" xyz="0.03598 0.01730 -0.00164"/>
      <inertia ixx="0.00007756198" ixy="0.00000149095" ixz="-0.00000983385" iyy="0.00019708305" iyz="-0.00000306125" izz="0.00018105446"/>
    </inertial>
    <!--<visual>
        <origin xyz="${0.0914942479/2.0} 0 0" rpy="0 0 0.0541224233" />
        <geometry>
          <box size="${0.0914942479} 0.005 0.005" />
        </geometry>
        <material name="Green" />
      </visual>-->
    <!--collision group="non_gripper">
      <origin rpy="0 0 0.0541224233" xyz="0.04574712395 0 0"/>
      <geometry>
        <box size="0.0914942479 0.005 0.005"/>
      </geometry>
      <verbose value="Yes"/>
    </collision-->
  </link>
  <link name="l_gripper_r_parallel_link">
    <inertial>
      <mass value="0.17389"/>
      <origin rpy="0 0 0" xyz="0.03576 -0.01736 -0.00095"/>
      <inertia ixx="0.00007738410" ixy="-0.00000209309" ixz="-0.00000836228" iyy="0.00019847383" iyz="0.00000246110" izz="0.00018106988"/>
    </inertial>
    <!--<visual>
        <origin xyz="${0.0914942479/2.0} 0 0" rpy="0 0 -0.0541224233" />
        <geometry>
          <box size="${0.0914942479} 0.005 0.005" />
        </geometry>
        <material name="Green" />
      </visual>-->
    <!--collision group="non_gripper">
      <origin rpy="0 0 -0.0541224233" xyz="0.04574712395 0 0"/>
      <geometry>
        <box size="0.0914942479 0.005 0.005"/>
      </geometry>
      <verbose value="Yes"/>
    </collision-->
  </link>
  <joint name="l_gripper_l_finger_tip_joint" type="revolute">
    <axis xyz="0 0 -1"/>
    <origin rpy="0 0 0" xyz="0.09137 0.00495 0"/>
    <limit effort="1000.0" lower="0.0" upper="0.548" velocity="0.5"/>
    <dynamics damping="0.01"/>
    <mimic joint="l_gripper_l_finger_joint" multiplier="1" offset="0"/>
    <parent link="l_gripper_l_finger_link"/>
    <child link="l_gripper_l_finger_tip_link"/>
  </joint>
  <link name="l_gripper_l_finger_tip_link">
    <inertial>
      <mass value="0.04419"/>
      <origin rpy="0 0 0" xyz="0.00423 0.00284 0.0"/>
      <inertia ixx="0.00000837047" ixy="0.00000583632" ixz="0.0" iyy="0.00000987067" iyz="0.0" izz="0.00001541768"/>
    </inertial>
    <visual>
      <origin rpy="0 0 0" xyz="0 0 0"/>
      <geometry>
        <mesh filename="../meshes/gripper_v0/l_finger_tip.obj"/>
      </geometry>
      <material name="Green"/>
    </visual>
    <collision group="finger_tips">
      <origin rpy="0 0 0" xyz="0 0 0"/>
      <geometry>
        <mesh filename="../meshes/gripper_v0/l_finger_tip.obj"/>
      </geometry>
      <verbose value="Yes"/>
    </collision>
  </link>
  <joint name="l_gripper_r_finger_tip_joint" type="revolute">
    <axis xyz="0 0 1"/>
    <origin rpy="0 0 0" xyz="0.09137 -0.00495 0"/>
    <limit effort="1000.0" lower="0.0" upper="0.548" velocity="0.5"/>
    <dynamics damping="0.01"/>
    <mimic joint="l_gripper_l_finger_joint" multiplier="1" offset="0"/>
    <parent link="l_gripper_r_finger_link"/>
    <child link="l_gripper_r_finger_tip_link"/>
  </joint>
  <link name="l_gripper_r_finger_tip_link">
    <inertial>
      <mass value="0.04419"/>
      <origin rpy="0 0 0" xyz="0.00423 -0.00284 0.0"/>
      <inertia ixx="0.00000837047" ixy="-0.00000583632" ixz="0.0" iyy="0.00000987067" iyz="0.0" izz="0.00001541768"/>
    </inertial>
    <visual>
      <origin rpy="3.14159265359 0 0" xyz="0 0 0"/>
      <geometry>
        <mesh filename="../meshes/gripper_v0/l_finger_tip.obj"/>
      </geometry>
      <material name="Green"/>
    </visual>
    <collision group="finger_tips">
      <origin rpy="3.14159265359 0 0" xyz="0 0 0"/>
      <geometry>
        <mesh filename="../meshes/gripper_v0/l_finger_tip.obj"/>
      </geometry>
      <verbose value="Yes"/>
    </collision>
  </link>
  <gazebo reference="l_gripper_l_finger_link">
    <turnGravityOff>true</turnGravityOff>
    <sensor:contact name="l_gripper_l_finger_contact_sensor">
      <geom>l_gripper_l_finger_link_geom</geom>
      <updateRate>100.0</updateRate>
      <controller:gazebo_ros_bumper name="l_gripper_l_finger_gazebo_ros_bumper_controller" plugin="libgazebo_ros_bumper.so">
        <alwaysOn>true</alwaysOn>
        <updateRate>100.0</updateRate>
        <bumperTopicName>l_gripper_l_finger_bumper</bumperTopicName>
        <interface:bumper name="l_gripper_l_finger_gazebo_ros_bumper_iface"/>
      </controller:gazebo_ros_bumper>
    </sensor:contact>
    <mu1 value="500.0"/>
    <mu2 value="500.0"/>
    <kp value="1000000.0"/>
    <kd value="1.0"/>
    <material value="PR2/Grey"/>
    <!-- for "${prefix}_l_finger_joint"-->
  </gazebo>
  <gazebo reference="l_gripper_l_finger_joint">
    <stopKd value="1.0"/>
    <stopKp value="10000000.0"/>
    <fudgeFactor value="1.0"/>
    <provideFeedback value="true"/>
  </gazebo>
  <gazebo reference="l_gripper_r_finger_link">
    <turnGravityOff>true</turnGravityOff>
    <sensor:contact name="l_gripper_r_finger_contact_sensor">
      <geom>l_gripper_r_finger_link_geom</geom>
      <updateRate>100.0</updateRate>
      <controller:gazebo_ros_bumper name="l_gripper_r_finger_gazebo_ros_bumper_controller" plugin="libgazebo_ros_bumper.so">
        <alwaysOn>true</alwaysOn>
        <updateRate>100.0</updateRate>
        <bumperTopicName>l_gripper_r_finger_bumper</bumperTopicName>
        <interface:bumper name="l_gripper_r_finger_gazebo_ros_bumper_iface"/>
      </controller:gazebo_ros_bumper>
    </sensor:contact>
    <mu1 value="500.0"/>
    <mu2 value="500.0"/>
    <kp value="1000000.0"/>
    <kd value="1.0"/>
    <material value="PR2/Grey"/>
  </gazebo>
  <gazebo reference="l_gripper_r_finger_joint">
    <stopKd value="1.0"/>
    <stopKp value="10000000.0"/>
    <fudgeFactor value="1.0"/>
    <provideFeedback value="true"/>
  </gazebo>
  <gazebo reference="l_gripper_l_finger_tip_link">
    <turnGravityOff>true</turnGravityOff>
    <selfCollide>false</selfCollide>
    <sensor:contact name="l_gripper_l_finger_tip_contact_sensor">
      <geom>l_gripper_l_finger_tip_link_geom</geom>
      <updateRate>100.0</updateRate>
      <controller:gazebo_ros_bumper name="l_gripper_l_finger_tip_gazebo_ros_bumper_controller" plugin="libgazebo_ros_bumper.so">
        <alwaysOn>true</alwaysOn>
        <updateRate>100.0</updateRate>
        <bumperTopicName>l_gripper_l_finger_tip_bumper</bumperTopicName>
        <interface:bumper name="l_gripper_l_finger_tip_gazebo_ros_bumper_iface"/>
      </controller:gazebo_ros_bumper>
    </sensor:contact>
    <mu1 value="500.0"/>
    <mu2 value="500.0"/>
    <kp value="10000000.0"/>
    <kd value="1.0"/>
    <material value="PR2/Grey"/>
  </gazebo>
  <gazebo reference="l_gripper_l_finger_tip_joint">
    <stopKd value="1.0"/>
    <stopKp value="10000000.0"/>
    <fudgeFactor value="1.0"/>
    <provideFeedback value="true"/>
  </gazebo>
  <gazebo reference="l_gripper_r_finger_tip_link">
    <turnGravityOff>true</turnGravityOff>
    <selfCollide>false</selfCollide>
    <sensor:contact name="l_gripper_r_finger_tip_contact_sensor">
      <geom>l_gripper_r_finger_tip_link_geom</geom>
      <updateRate>100.0</updateRate>
      <controller:gazebo_ros_bumper name="l_gripper_r_finger_tip_gazebo_ros_bumper_controller" plugin="libgazebo_ros_bumper.so">
        <alwaysOn>true</alwaysOn>
        <updateRate>100.0</updateRate>
        <bumperTopicName>l_gripper_r_finger_tip_bumper</bumperTopicName>
        <interface:bumper name="l_gripper_r_finger_tip_gazebo_ros_bumper_iface"/>
      </controller:gazebo_ros_bumper>
    </sensor:contact>
    <mu1 value="500.0"/>
    <mu2 value="500.0"/>
    <kp value="10000000.0"/>
    <kd value="1.0"/>
    <material value="PR2/Grey"/>
  </gazebo>
  <gazebo>
    <controller:gazebo_ros_p3d name="p3d_l_gripper_l_finger_controller" plugin="libgazebo_ros_p3d.so">
      <alwaysOn>true</alwaysOn>
      <updateRate>100.0</updateRate>
      <bodyName>l_gripper_l_finger_link</bodyName>
      <topicName>l_gripper_l_finger_pose_ground_truth</topicName>
      <gaussianNoise>0.0</gaussianNoise>
      <frameName>base_link</frameName>
      <interface:position name="p3d_l_gripper_l_finger_position_iface"/>
    </controller:gazebo_ros_p3d>
    <controller:gazebo_ros_f3d name="f3d_l_gripper_l_finger_controller" plugin="libgazebo_ros_f3d.so">
      <alwaysOn>true</alwaysOn>
      <updateRate>100.0</updateRate>
      <bodyName>l_gripper_l_finger_link</bodyName>
      <topicName>l_gripper_l_finger_force_ground_truth</topicName>
      <frameName>l_gripper_l_finger_link</frameName>
      <interface:position name="f3d_l_gripper_l_finger_force_iface"/>
    </controller:gazebo_ros_f3d>
  </gazebo>
  <gazebo reference="l_gripper_r_finger_tip_joint">
    <stopKd value="1.0"/>
    <stopKp value="10000000.0"/>
    <fudgeFactor value="1.0"/>
    <provideFeedback value="true"/>
  </gazebo>
  <gazebo>
    <joint:hinge name="l_gripper_r_parallel_tip_joint">
      <body1>l_gripper_r_parallel_link</body1>
      <body2>l_gripper_r_finger_tip_link</body2>
      <anchor>l_gripper_r_finger_tip_link</anchor>
      <axis>0 0 1</axis>
      <anchorOffset>-0.018 -0.021 0</anchorOffset>
    </joint:hinge>
    <joint:hinge name="l_gripper_l_parallel_tip_joint">
      <body1>l_gripper_l_parallel_link</body1>
      <body2>l_gripper_l_finger_tip_link</body2>
      <anchor>l_gripper_l_finger_tip_link</anchor>
      <axis>0 0 1</axis>
      <anchorOffset>-0.018 0.021 0</anchorOffset>
    </joint:hinge>
    <joint:slider name="l_gripper_joint">
      <body1>l_gripper_l_finger_tip_link</body1>
      <body2>l_gripper_r_finger_tip_link</body2>
      <anchor>l_gripper_r_finger_tip_link</anchor>
      <axis>0 1 0</axis>
    </joint:slider>
  </gazebo>
  <gazebo reference="l_gripper_l_parallel_link">
    <turnGravityOff>true</turnGravityOff>
    <material value="PR2/Red"/>
  </gazebo>
  <gazebo reference="l_gripper_r_parallel_link">
    <turnGravityOff>true</turnGravityOff>
    <material value="PR2/Red"/>
  </gazebo>
  <!-- Some gripper joints are replaced for Drake compatibility -->
  <!--
  <joint name="l_gripper_joint" type="prismatic">
    <parent link="l_gripper_r_finger_tip_link"/>
    <child link="l_gripper_l_finger_tip_link"/>
    <axis xyz="0 1 0"/>
    <dynamics damping="100.0"/>
    <limit effort="1000.0" lower="0.0" upper="0.09" velocity="0.2"/>
    <safety_controller k_position="20.0" k_velocity="5000.0" soft_lower_limit="-0.01" soft_upper_limit="0.088"/>
  </joint>-->
  <!--link name="l_gripper_l_finger_tip_frame"/-->
  <gazebo reference="l_gripper_palm_link">
    <turnGravityOff>true</turnGravityOff>
    <sensor:contact name="l_gripper_palm_contact_sensor">
      <geom>l_gripper_palm_link_geom</geom>
      <updateRate>100.0</updateRate>
      <controller:gazebo_ros_bumper name="l_gripper_palm_gazebo_ros_bumper_controller" plugin="libgazebo_ros_bumper.so">
        <alwaysOn>true</alwaysOn>
        <updateRate>100.0</updateRate>
        <bumperTopicName>l_gripper_palm_bumper</bumperTopicName>
        <interface:bumper name="l_gripper_palm_gazebo_ros_bumper_iface"/>
      </controller:gazebo_ros_bumper>
    </sensor:contact>
    <material value="PR2/Grey"/>
  </gazebo>
  <gazebo>
    <controller:gazebo_ros_p3d name="p3d_l_gripper_palm_controller" plugin="libgazebo_ros_p3d.so">
      <alwaysOn>true</alwaysOn>
      <updateRate>100.0</updateRate>
      <bodyName>l_gripper_palm_link</bodyName>
      <topicName>l_gripper_palm_pose_ground_truth</topicName>
      <xyzOffsets>0 0 0</xyzOffsets>
      <rpyOffsets>0 0 0</rpyOffsets>
      <gaussianNoise>0.0</gaussianNoise>
      <frameName>map</frameName>
      <interface:position name="p3d_l_gripper_palm_position_iface"/>
    </controller:gazebo_ros_p3d>
  </gazebo>
  <!-- PR2GripperTransmission commented for Drake compatibility -->
  <!--
  <transmission name="l_gripper_trans" type="PR2GripperTransmission">
    <actuator name="l_gripper_motor"/>
    <gap_joint L0="0.0375528" a="0.0683698" b="0.0433849" gear_ratio="40.095" h="0.0" mechanical_reduction="1.0" name="l_gripper_joint" phi0="0.518518122146" r="0.0915" screw_reduction="0.004" t0="-0.0001914" theta0="0.0628824676201"/>
    < if a gazebo joint exists as [l|r]_gripper_joint, use this tag to have
           gripper transmission apply torque directly to fixed joint >
    <use_simulated_gripper_joint/>
    <passive_joint name="l_gripper_l_finger_joint"/>
    <passive_joint name="l_gripper_r_finger_joint"/>
    <passive_joint name="l_gripper_r_finger_tip_joint"/>
    <passive_joint name="l_gripper_l_finger_tip_joint"/>
    <passive_joint name="l_gripper_r_parallel_root_joint"/>
    <passive_joint name="l_gripper_l_parallel_root_joint"/>
  </transmission>-->
  <transmission name="l_gripper_l_finger_trans" type="SimpleTransmission">
    <actuator name="l_gripper_l_finger_motor"/>
    <joint name="l_gripper_l_finger_joint"/>
    <mechanicalReduction>1.0</mechanicalReduction>
  </transmission>
  <transmission name="l_gripper_r_finger_trans" type="SimpleTransmission">
    <actuator name="l_gripper_r_finger_motor"/>
    <joint name="l_gripper_r_finger_joint"/>
    <mechanicalReduction>1.0</mechanicalReduction>
  </transmission>
  <transmission name="l_gripper_l_finger_tip_trans" type="SimpleTransmission">
    <actuator name="l_gripper_l_finger_tip_motor"/>
    <joint name="l_gripper_l_finger_tip_joint"/>
    <mechanicalReduction>1.0</mechanicalReduction>
  </transmission>
  <transmission name="l_gripper_r_finger_tip_trans" type="SimpleTransmission">
    <actuator name="l_gripper_r_finger_tip_motor"/>
    <joint name="l_gripper_r_finger_tip_joint"/>
    <mechanicalReduction>1.0</mechanicalReduction>
  </transmission>
  <!-- Forearm cam Position is a guess, based on full robot calibration -->
  <!-- Forearm cam Orientation is from Function -->
  <joint name="l_forearm_cam_frame_joint" type="fixed">
    <origin rpy="-1.57079632679 -0.562868683768 0" xyz=".135 0 .044"/>
    <parent link="l_forearm_roll_link"/>
    <child link="l_forearm_cam_frame"/>
  </joint>
  <link name="l_forearm_cam_frame">
    <inertial>
      <mass value="0.01"/>
      <origin xyz="0 0 0"/>
      <inertia ixx="0.001" ixy="0.0" ixz="0.0" iyy="0.001" iyz="0.0" izz="0.001"/>
    </inertial>
    <visual>
      <origin rpy="0 0 0" xyz="0 0 0"/>
      <geometry>
        <box size="0.01 0.01 0.01"/>
      </geometry>
    </visual>
    <collision group="non_gripper">
      <origin rpy="0 0 0" xyz="0 0 0"/>
      <geometry>
        <box size="0.01 0.01 0.01"/>
      </geometry>
    </collision>
  </link>
  <joint name="l_forearm_cam_optical_frame_joint" type="fixed">
    <origin rpy="-1.57079632679 0.0 -1.57079632679" xyz="0 0 0"/>
    <parent link="l_forearm_cam_frame"/>
    <child link="l_forearm_cam_optical_frame"/>
  </joint>
  <link name="l_forearm_cam_optical_frame"/>
  <gazebo reference="l_forearm_cam_frame">
    <sensor:camera name="l_forearm_cam_sensor">
      <imageSize>640 480</imageSize>
      <imageFormat>L8</imageFormat>
      <hfov>90</hfov>
      <nearClip>0.1</nearClip>
      <farClip>100</farClip>
      <updateRate>25.0</updateRate>
      <controller:gazebo_ros_camera name="l_forearm_cam_controller" plugin="libgazebo_ros_camera.so">
        <alwaysOn>true</alwaysOn>
        <updateRate>25.0</updateRate>
        <imageTopicName>l_forearm_cam/image_raw</imageTopicName>
        <cameraInfoTopicName>l_forearm_cam/camera_info</cameraInfoTopicName>
        <frameName>l_forearm_cam_optical_frame</frameName>
        <hackBaseline>0</hackBaseline>
        <CxPrime>320.5</CxPrime>
        <Cx>320.5</Cx>
        <Cy>240.5</Cy>
        <!-- image_width / (2*tan(hfov_radian /2)) -->
        <!-- 320 for wide and 772.55 for narrow stereo camera -->
        <focal_length>320</focal_length>
        <distortion_k1>0.00000001</distortion_k1>
        <distortion_k2>0.00000001</distortion_k2>
        <distortion_k3>0.00000001</distortion_k3>
        <distortion_t1>0.00000001</distortion_t1>
        <distortion_t2>0.00000001</distortion_t2>
        <interface:camera name="l_forearm_cam_iface"/>
      </controller:gazebo_ros_camera>
    </sensor:camera>
    <turnGravityOff>true</turnGravityOff>
    <material>PR2/Blue</material>
  </gazebo>
  <joint name="r_forearm_cam_frame_joint" type="fixed">
    <origin rpy="1.57079632679 -0.562868683768 0" xyz=".135 0 .044"/>
    <parent link="r_forearm_roll_link"/>
    <child link="r_forearm_cam_frame"/>
  </joint>
  <link name="r_forearm_cam_frame">
    <inertial>
      <mass value="0.01"/>
      <origin xyz="0 0 0"/>
      <inertia ixx="0.001" ixy="0.0" ixz="0.0" iyy="0.001" iyz="0.0" izz="0.001"/>
    </inertial>
    <visual>
      <origin rpy="0 0 0" xyz="0 0 0"/>
      <geometry>
        <box size="0.01 0.01 0.01"/>
      </geometry>
    </visual>
    <collision group="non_gripper">
      <origin rpy="0 0 0" xyz="0 0 0"/>
      <geometry>
        <box size="0.01 0.01 0.01"/>
      </geometry>
    </collision>
  </link>
  <joint name="r_forearm_cam_optical_frame_joint" type="fixed">
    <origin rpy="-1.57079632679 0.0 -1.57079632679" xyz="0 0 0"/>
    <parent link="r_forearm_cam_frame"/>
    <child link="r_forearm_cam_optical_frame"/>
  </joint>
  <link name="r_forearm_cam_optical_frame"/>
  <gazebo reference="r_forearm_cam_frame">
    <sensor:camera name="r_forearm_cam_sensor">
      <imageSize>640 480</imageSize>
      <imageFormat>L8</imageFormat>
      <hfov>90</hfov>
      <nearClip>0.1</nearClip>
      <farClip>100</farClip>
      <updateRate>25.0</updateRate>
      <controller:gazebo_ros_camera name="r_forearm_cam_controller" plugin="libgazebo_ros_camera.so">
        <alwaysOn>true</alwaysOn>
        <updateRate>25.0</updateRate>
        <imageTopicName>r_forearm_cam/image_raw</imageTopicName>
        <cameraInfoTopicName>r_forearm_cam/camera_info</cameraInfoTopicName>
        <frameName>r_forearm_cam_optical_frame</frameName>
        <hackBaseline>0</hackBaseline>
        <CxPrime>320.5</CxPrime>
        <Cx>320.5</Cx>
        <Cy>240.5</Cy>
        <!-- image_width / (2*tan(hfov_radian /2)) -->
        <!-- 320 for wide and 772.55 for narrow stereo camera -->
        <focal_length>320</focal_length>
        <distortion_k1>0.00000001</distortion_k1>
        <distortion_k2>0.00000001</distortion_k2>
        <distortion_k3>0.00000001</distortion_k3>
        <distortion_t1>0.00000001</distortion_t1>
        <distortion_t2>0.00000001</distortion_t2>
        <interface:camera name="r_forearm_cam_iface"/>
      </controller:gazebo_ros_camera>
    </sensor:camera>
    <turnGravityOff>true</turnGravityOff>
    <material>PR2/Blue</material>
  </gazebo>
</robot>
